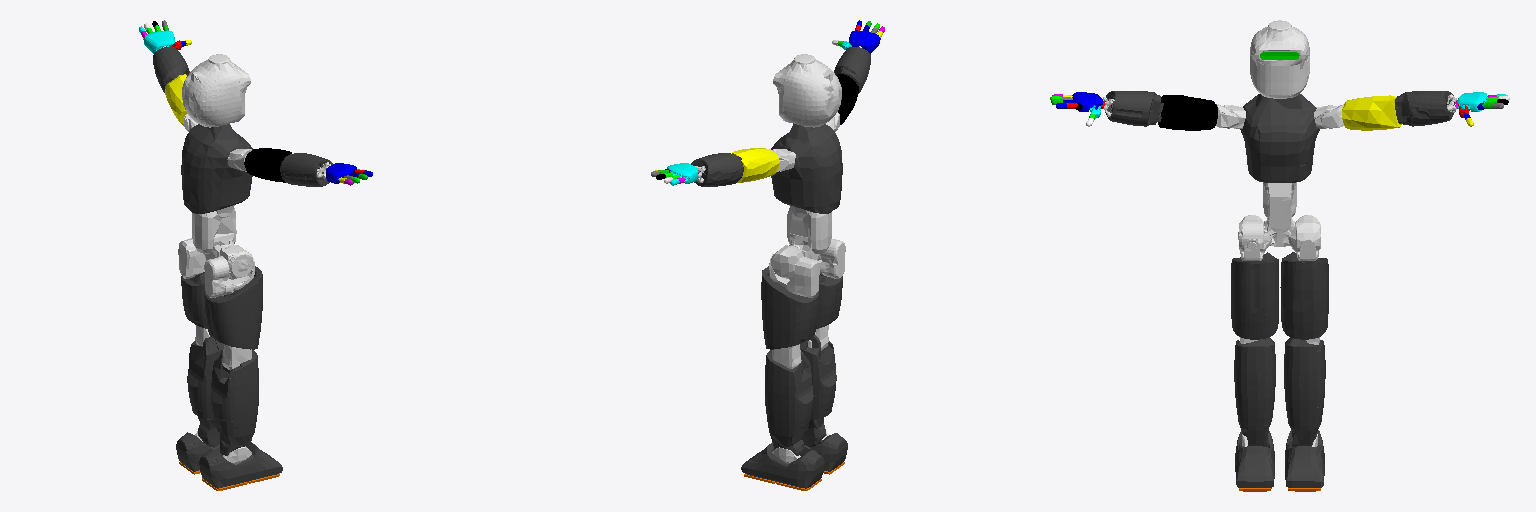
--- Facts derived from the render (not from the file) ---
3 views of the same robot in one strip: view 1: azimuth 30°, elevation 25°; view 2: azimuth 150°, elevation 25°; view 3: azimuth 270°, elevation 25° (orthographic).
Robot: ergoCub — 169 links, 168 joints (57 revolute, 111 fixed); root link root_link; default pose: joints at zero except 2 at the middle of their limits (r_shoulder_roll = 1.53, l_shoulder_roll = 1.53).
Links seen in each view (by area): view 1: chest, r_lower_leg, head, r_hip_3, l_lower_leg, r_ankle_2, r_forearm, torso_1, r_hip_2, r_upperarm, l_hip_3, l_forearm (+4 smaller); view 2: chest, l_lower_leg, head, l_hip_3, r_lower_leg, l_ankle_2, torso_1, l_forearm, l_hip_2, l_upperarm, r_hip_3, r_forearm (+4 smaller); view 3: chest, l_lower_leg, r_lower_leg, r_hip_3, l_hip_3, head, r_upperarm, l_forearm, l_ankle_2, r_ankle_2, l_upperarm, r_forearm (+3 smaller).
Boxes of the visible links, <box> form: chest: <box>181,124,252,213</box>; r_lower_leg: <box>210,350,258,455</box>; head: <box>182,54,250,127</box>; r_hip_3: <box>204,266,262,349</box>; l_lower_leg: <box>187,336,223,447</box>; r_ankle_2: <box>199,442,282,488</box>; r_forearm: <box>280,153,332,186</box>; torso_1: <box>192,208,236,253</box>; r_hip_2: <box>204,254,254,297</box>; r_upperarm: <box>244,148,291,182</box>; l_hip_3: <box>181,272,207,328</box>; l_forearm: <box>153,47,189,92</box>; chest: <box>771,123,842,213</box>; l_lower_leg: <box>765,349,813,455</box>; head: <box>773,54,841,127</box>; l_hip_3: <box>761,266,818,349</box>; r_lower_leg: <box>800,335,836,447</box>; l_ankle_2: <box>741,442,824,488</box>; torso_1: <box>787,208,831,253</box>; l_forearm: <box>691,153,743,186</box>; l_hip_2: <box>769,254,819,297</box>; l_upperarm: <box>732,148,779,182</box>; r_hip_3: <box>816,273,842,328</box>; r_forearm: <box>834,47,870,93</box>; chest: <box>1240,94,1319,182</box>; l_lower_leg: <box>1284,337,1325,446</box>; r_lower_leg: <box>1234,337,1275,446</box>; r_hip_3: <box>1231,252,1278,339</box>; l_hip_3: <box>1280,252,1328,339</box>; head: <box>1250,20,1309,98</box>; r_upperarm: <box>1158,95,1217,130</box>; l_forearm: <box>1395,91,1454,126</box>; l_ankle_2: <box>1285,430,1324,487</box>; r_ankle_2: <box>1235,431,1274,487</box>; l_upperarm: <box>1342,95,1401,130</box>; r_forearm: <box>1105,91,1163,126</box>.
Bounding box of the posed robot: 0.3524 × 1.38 × 1.47 m (x, y, z).
Meshes: 66 distinct files referenced, 66 mesh visuals loaded (45 binary STL, 21 ASCII STL).

robot.urdf — ergoCub:
<?xml version='1.0' encoding='UTF-8'?>
<robot name="ergoCub">
  <link name="root_link">
    <inertial>
      <origin xyz="0.0024749 -0.000105079 0.02344999999999997" rpy="0 0 1.5707963267948966"/>
      <mass value="2.82375"/>
      <inertia ixx="0.00438007" ixy="-1.4369e-06" ixz="1.40984e-05" iyy="0.00563065" iyz="-2.32994e-05" izz="0.00361668"/>
    </inertial>
    <visual>
      <origin xyz="0 0 0.1785" rpy="0 0 1.5707963267948966"/>
      <geometry>
        <mesh filename="package://ergoCub/meshes/simmechanics/sim_ecub_root_link_prt.stl" scale="0.001 0.001 0.001"/>
      </geometry>
      <material name="root_link_color">
        <color rgba="0.9 0.9 0.9 1"/>
      </material>
    </visual>
    <collision>
      <origin xyz="0 0 0.1785" rpy="0 0 1.5707963267948966"/>
      <geometry>
        <mesh filename="package://ergoCub/meshes/simmechanics/sim_ecub_root_link_prt.stl" scale="0.001 0.001 0.001"/>
      </geometry>
    </collision>
  </link>
  <link name="r_hip_1">
    <inertial>
      <origin xyz="-0.0040321 -0.028249399999999994 -0.0006740000000000079" rpy="0 0 1.5707963267948966"/>
      <mass value="2.23209"/>
      <inertia ixx="0.00269555" ixy="6.12663e-05" ixz="6.44179e-06" iyy="0.00221227" iyz="1.50337e-05" izz="0.00246089"/>
    </inertial>
    <visual>
      <origin xyz="-0.021099999999999997 0.0505 0.1785" rpy="0 0 1.5707963267948966"/>
      <geometry>
        <mesh filename="package://ergoCub/meshes/simmechanics/sim_ecub_r_hip_1_prt.stl" scale="0.001 0.001 0.001"/>
      </geometry>
      <material name="r_hip_1_color">
        <color rgba="0.9 0.9 0.9 1"/>
      </material>
    </visual>
    <collision>
      <origin xyz="-0.021099999999999997 0.0505 0.1785" rpy="0 0 1.5707963267948966"/>
      <geometry>
        <mesh filename="package://ergoCub/meshes/simmechanics/sim_ecub_r_hip_1_prt.stl" scale="0.001 0.001 0.001"/>
      </geometry>
    </collision>
  </link>
  <joint name="r_hip_pitch" type="revolute">
    <origin xyz="0.0211 -0.0505 0" rpy="0 0 0"/>
    <axis xyz="0.0 -1.0 0.0"/>
    <parent link="root_link"/>
    <child link="r_hip_1"/>
    <limit effort="50000" lower="-0.7853981633974483" upper="2.007128639793479" velocity="120.0"/>
    <dynamics damping="2.0" friction="0.0"/>
  </joint>
  <link name="r_hip_2">
    <inertial>
      <origin xyz="-0.004133600000000001 -4.650000000000487e-05 -0.03744" rpy="0 0 1.5707963267948966"/>
      <mass value="1.8336"/>
      <inertia ixx="0.00541315" ixy="-2.23165e-06" ixz="-6.93678e-07" iyy="0.0030844" iyz="-0.000989285" izz="0.00339693"/>
    </inertial>
    <visual>
      <origin xyz="0.0262 0.08360000000001593 0.1874999999999929" rpy="0 0 1.5707963267948966"/>
      <geometry>
        <mesh filename="package://ergoCub/meshes/simmechanics/sim_ecub_r_hip_2_prt.stl" scale="0.001 0.001 0.001"/>
      </geometry>
      <material name="r_hip_2_color">
        <color rgba="0.9 0.9 0.9 1"/>
      </material>
    </visual>
    <collision>
      <origin xyz="0.0262 0.08360000000001593 0.1874999999999929" rpy="0 0 1.5707963267948966"/>
      <geometry>
        <mesh filename="package://ergoCub/meshes/simmechanics/sim_ecub_r_hip_2_prt.stl" scale="0.001 0.001 0.001"/>
      </geometry>
    </collision>
  </link>
  <joint name="r_hip_roll" type="revolute">
    <origin xyz="-0.04725 -0.03309999999999999 -0.009000000000000008" rpy="0 0 0"/>
    <axis xyz="-1.0 0.0 0.0"/>
    <parent link="r_hip_1"/>
    <child link="r_hip_2"/>
    <limit effort="50000" lower="-0.17453292519943295" upper="1.9547687622336491" velocity="120.0"/>
    <dynamics damping="2.0" friction="0.0"/>
  </joint>
  <link name="r_hip_3">
    <inertial>
      <origin xyz="0.005150999999999999 0.012832099999999999 -0.051687999999999956" rpy="0 0 1.5707963267948966"/>
      <mass value="2.1479"/>
      <inertia ixx="0.00814902" ixy="-3.4988e-05" ixz="-0.000125736" iyy="0.00719326" iyz="-2.4103e-05" izz="0.00572783"/>
    </inertial>
    <visual>
      <origin xyz="-0.0105 0.08360000000001593 0.2771999999999929" rpy="0 0 1.5707963267948966"/>
      <geometry>
        <mesh filename="package://ergoCub/meshes/simmechanics/sim_ecub_r_hip_3_prt.stl" scale="0.001 0.001 0.001"/>
      </geometry>
      <material name="r_hip_3_color">
        <color rgba="0.3 0.3 0.3 1"/>
      </material>
    </visual>
    <collision>
      <origin xyz="-0.0105 0.08360000000001593 0.2771999999999929" rpy="0 0 1.5707963267948966"/>
      <geometry>
        <mesh filename="package://ergoCub/meshes/simmechanics/sim_ecub_r_hip_3_prt.stl" scale="0.001 0.001 0.001"/>
      </geometry>
    </collision>
  </link>
  <joint name="r_leg_ft_sensor" type="fixed">
    <origin xyz="0.036699999999999997 0 -0.0897" rpy="0 0 0"/>
    <parent link="r_hip_2"/>
    <child link="r_hip_3"/>
    <dynamics damping="0.1"/>
  </joint>
  <link name="r_upper_leg">
    <inertial>
      <origin xyz="0.008517482820396669 -0.014468510113492955 -0.12674999999999997" rpy="0 0 1.5707963267956018"/>
      <mass value="2.78492"/>
      <inertia ixx="0.0121093" ixy="-5.45559e-05" ixz="-0.000403319" iyy="0.0118603" iyz="-0.000539364" izz="0.00226097"/>
    </inertial>
    <visual>
      <origin xyz="-0.01050000004578778 0.068600000000031 0.3498999999999929" rpy="0 0 1.5707963267956018"/>
      <geometry>
        <mesh filename="package://ergoCub/meshes/simmechanics/sim_ecub_r_upper_leg_prt.stl" scale="0.001 0.001 0.001"/>
      </geometry>
      <material name="r_upper_leg_color">
        <color rgba="0.9 0.9 0.9 1"/>
      </material>
    </visual>
    <collision>
      <origin xyz="-0.01050000004578778 0.068600000000031 0.3498999999999929" rpy="0 0 1.5707963267956018"/>
      <geometry>
        <mesh filename="package://ergoCub/meshes/simmechanics/sim_ecub_r_upper_leg_prt.stl" scale="0.001 0.001 0.001"/>
      </geometry>
    </collision>
  </link>
  <joint name="r_hip_yaw" type="revolute">
    <origin xyz="0 0.015 -0.07269999999999999" rpy="0 0 1.187379294776138e-06"/>
    <axis xyz="0.0 0.0 -1.0"/>
    <parent link="r_hip_3"/>
    <child link="r_upper_leg"/>
    <limit effort="50000" lower="-1.3962634015954636" upper="1.3962634015954636" velocity="120.0"/>
    <dynamics damping="2.0" friction="0.0"/>
  </joint>
  <link name="r_lower_leg">
    <inertial>
      <origin xyz="0.0011584999999999998 0.006200199999999989 0.21425899999999998" rpy="3.141592653589793 0 -1.5707963267948966"/>
      <mass value="3.74161"/>
      <inertia ixx="0.0472543" ixy="-3.40915e-05" ixz="-0.0018183" iyy="0.0460139" iyz="0.000851474" izz="0.00478515"/>
    </inertial>
    <visual>
      <origin xyz="-0.021099999999999997 -0.060700000000000004 -0.5296000000000003" rpy="3.141592653589793 0 -1.5707963267948966"/>
      <geometry>
        <mesh filename="package://ergoCub/meshes/simmechanics/sim_ecub_r_lower_leg_prt.stl" scale="0.001 0.001 0.001"/>
      </geometry>
      <material name="r_lower_leg_color">
        <color rgba="0.3 0.3 0.3 1"/>
      </material>
    </visual>
    <collision>
      <origin xyz="-0.021099999999999997 -0.060700000000000004 -0.5296000000000003" rpy="3.141592653589793 0 -1.5707963267948966"/>
      <geometry>
        <mesh filename="package://ergoCub/meshes/simmechanics/sim_ecub_r_lower_leg_prt.stl" scale="0.001 0.001 0.001"/>
      </geometry>
    </collision>
  </link>
  <joint name="r_knee" type="revolute">
    <origin xyz="0.010600009380288952 0.007899987413773887 -0.17970000000000008" rpy="3.141592653589793 0 -1.187379294776138e-06"/>
    <axis xyz="0.0 1.0 0.0"/>
    <parent link="r_upper_leg"/>
    <child link="r_lower_leg"/>
    <limit effort="50000" lower="-1.2217304763960306" upper="0.08726646259971647" velocity="120.0"/>
    <dynamics damping="2.0" friction="0.0"/>
  </joint>
  <link name="r_ankle_1">
    <inertial>
      <origin xyz="-0.0013671999999999955 -0.0006601999999999997 -0.01408699999999996" rpy="0 0 1.5707963267948966"/>
      <mass value="0.348128"/>
      <inertia ixx="0.01" ixy="-8.99183e-06" ixz="5.52411e-05" iyy="0.01" iyz="1.03371e-05" izz="0.01"/>
    </inertial>
    <visual>
      <origin xyz="-0.021099999999999997 0.0926 0.8505999999999999" rpy="0 0 1.5707963267948966"/>
      <geometry>
        <mesh filename="package://ergoCub/meshes/simmechanics/sim_ecub_r_ankle_1_prt.stl" scale="0.001 0.001 0.001"/>
      </geometry>
      <material name="r_ankle_1_color">
        <color rgba="0.9 0.9 0.9 1"/>
      </material>
    </visual>
    <collision>
      <origin xyz="-0.021099999999999997 0.0926 0.8505999999999999" rpy="0 0 1.5707963267948966"/>
      <geometry>
        <mesh filename="package://ergoCub/meshes/simmechanics/sim_ecub_r_ankle_1_prt.stl" scale="0.001 0.001 0.001"/>
      </geometry>
    </collision>
  </link>
  <joint name="r_ankle_pitch" type="revolute">
    <origin xyz="0 0.0319 0.32099999999999995" rpy="3.141592653589793 0 0"/>
    <axis xyz="0.0 1.0 0.0"/>
    <parent link="r_lower_leg"/>
    <child link="r_ankle_1"/>
    <limit effort="50000" lower="-0.7853981633974483" upper="0.7853981633974483" velocity="120.0"/>
    <dynamics damping="2.0" friction="0.0"/>
  </joint>
  <link name="r_ankle_2">
    <inertial>
      <origin xyz="0.04052647 -8.640000000000037e-05 -0.023870999999999976" rpy="0 0 1.5707963267948966"/>
      <mass value="1.54182"/>
      <inertia ixx="0.01" ixy="-2.30708e-05" ixz="-3.07725e-05" iyy="0.01" iyz="-0.00132237" izz="0.01"/>
    </inertial>
    <visual>
      <origin xyz="0.031650000000000005 0.07440000000000001 0.8856000000000002" rpy="0 0 1.5707963267948966"/>
      <geometry>
        <mesh filename="package://ergoCub/meshes/simmechanics/sim_ecub_r_ankle_2_prt.stl" scale="0.001 0.001 0.001"/>
      </geometry>
      <material name="r_ankle_2_color">
        <color rgba="0.3 0.3 0.3 1"/>
      </material>
    </visual>
    <collision>
      <origin xyz="0.031650000000000005 0.07440000000000001 0.8856000000000002" rpy="0 0 1.5707963267948966"/>
      <geometry>
        <mesh filename="package://ergoCub/meshes/simmechanics/sim_ecub_r_ankle_2_prt.stl" scale="0.001 0.001 0.001"/>
      </geometry>
    </collision>
  </link>
  <joint name="r_ankle_roll" type="revolute">
    <origin xyz="-0.052750000000000005 0.018199999999999994 -0.03500000000000003" rpy="0 0 0"/>
    <axis xyz="-1.0 0.0 0.0"/>
    <parent link="r_ankle_1"/>
    <child link="r_ankle_2"/>
    <limit effort="50000" lower="-0.4363323129985824" upper="0.4363323129985824" velocity="120.0"/>
    <dynamics damping="2.0" friction="0.0"/>
  </joint>
  <link name="r_foot_rear">
    <inertial>
      <origin xyz="0.0005878999999999988 0 0.00229899999999994" rpy="0 0 1.5707963267948966"/>
      <mass value="0.221105"/>
      <inertia ixx="0.01" ixy="0.0" ixz="-4.27001e-09" iyy="0.01" iyz="3.29086e-09" izz="0.01"/>
    </inertial>
    <visual>
      <origin xyz="0.015599999999999463 0.07440000000000031 0.9558" rpy="0 0 1.5707963267948966"/>
      <geometry>
        <mesh filename="package://ergoCub/meshes/simmechanics/sim_ecub_r_foot_rear_prt.stl" scale="0.001 0.001 0.001"/>
      </geometry>
      <material name="r_foot_rear_color">
        <color rgba="1 0.51 0.0 1"/>
      </material>
    </visual>
    <collision>
      <origin xyz="0.0 0.0 0.003" rpy="0.0 0.0 0.0"/>
      <geometry>
        <box size="0.117 0.1 0.006"/>
      </geometry>
    </collision>
  </link>
  <joint name="r_foot_rear_ft_sensor" type="fixed">
    <origin xyz="0.016000000000000004 0 -0.07019999999999993" rpy="0 0 0"/>
    <parent link="r_ankle_2"/>
    <child link="r_foot_rear"/>
    <dynamics damping="0.1"/>
  </joint>
  <link name="r_sole"/>
  <joint name="r_sole_fixed_joint" type="fixed">
    <origin xyz="0.05963 0 0" rpy="0 0 0"/>
    <parent link="r_foot_rear"/>
    <child link="r_sole"/>
    <dynamics damping="0.1"/>
  </joint>
  <link name="r_foot_front">
    <inertial>
      <origin xyz="0.0005879999999999913 0 0.00229899999999994" rpy="0 0 1.5707963267948966"/>
      <mass value="0.221105"/>
      <inertia ixx="0.01" ixy="0.0" ixz="-4.27001e-09" iyy="0.01" iyz="3.99664e-09" izz="0.01"/>
    </inertial>
    <visual>
      <origin xyz="-0.10360000000000001 0.07440000000000001 0.9558000000000001" rpy="0 0 1.5707963267948966"/>
      <geometry>
        <mesh filename="package://ergoCub/meshes/simmechanics/sim_ecub_r_foot_front_prt.stl" scale="0.001 0.001 0.001"/>
      </geometry>
      <material name="r_foot_front_color">
        <color rgba="1 0.51 0.0 1"/>
      </material>
    </visual>
    <collision>
      <origin xyz="0.0 0.0 0.003" rpy="0.0 0.0 0.0"/>
      <geometry>
        <box size="0.117 0.1 0.006"/>
      </geometry>
    </collision>
  </link>
  <joint name="r_foot_front_ft_sensor" type="fixed">
    <origin xyz="0.13525 0 -0.07019999999999993" rpy="0 0 0"/>
    <parent link="r_ankle_2"/>
    <child link="r_foot_front"/>
    <dynamics damping="0.1"/>
  </joint>
  <link name="l_hip_1">
    <inertial>
      <origin xyz="-0.004015400000000002 0.02824729999999999 -0.0006810000000000149" rpy="0 0 1.5707963267948966"/>
      <mass value="2.23177"/>
      <inertia ixx="0.00269534" ixy="-5.97131e-05" ixz="-5.83472e-06" iyy="0.00221093" iyz="1.54328e-05" izz="0.00246104"/>
    </inertial>
    <visual>
      <origin xyz="-0.021099999999999997 -0.0505 0.1785" rpy="0 0 1.5707963267948966"/>
      <geometry>
        <mesh filename="package://ergoCub/meshes/simmechanics/sim_ecub_l_hip_1_prt.stl" scale="0.001 0.001 0.001"/>
      </geometry>
      <material name="l_hip_1_color">
        <color rgba="0.9 0.9 0.9 1"/>
      </material>
    </visual>
    <collision>
      <origin xyz="-0.021099999999999997 -0.0505 0.1785" rpy="0 0 1.5707963267948966"/>
      <geometry>
        <mesh filename="package://ergoCub/meshes/simmechanics/sim_ecub_l_hip_1_prt.stl" scale="0.001 0.001 0.001"/>
      </geometry>
    </collision>
  </link>
  <joint name="l_hip_pitch" type="revolute">
    <origin xyz="0.0211 0.0505 0" rpy="0 0 0"/>
    <axis xyz="0.0 -1.0 0.0"/>
    <parent link="root_link"/>
    <child link="l_hip_1"/>
    <limit effort="50000" lower="-0.7853981633974483" upper="2.007128639793479" velocity="120.0"/>
    <dynamics damping="2.0" friction="0.0"/>
  </joint>
  <link name="l_hip_2">
    <inertial>
      <origin xyz="-0.004125700000000003 3.9200000000017e-05 -0.03750999999999999" rpy="0 0 1.5707963267948966"/>
      <mass value="1.83384"/>
      <inertia ixx="0.00548825" ixy="1.65424e-06" ixz="-2.17613e-06" iyy="0.00315954" iyz="-0.000997734" izz="0.0033985"/>
    </inertial>
    <visual>
      <origin xyz="0.026149999999999982 -0.08359999999999998 0.18750000000000003" rpy="0 0 1.5707963267948966"/>
      <geometry>
        <mesh filename="package://ergoCub/meshes/simmechanics/sim_ecub_l_hip_2_prt.stl" scale="0.001 0.001 0.001"/>
      </geometry>
      <material name="l_hip_2_color">
        <color rgba="0.9 0.9 0.9 1"/>
      </material>
    </visual>
    <collision>
      <origin xyz="0.026149999999999982 -0.08359999999999998 0.18750000000000003" rpy="0 0 1.5707963267948966"/>
      <geometry>
        <mesh filename="package://ergoCub/meshes/simmechanics/sim_ecub_l_hip_2_prt.stl" scale="0.001 0.001 0.001"/>
      </geometry>
    </collision>
  </link>
  <joint name="l_hip_roll" type="revolute">
    <origin xyz="-0.04725 0.03309999999999999 -0.009000000000000008" rpy="0 0 0"/>
    <axis xyz="1.0 0.0 0.0"/>
    <parent link="l_hip_1"/>
    <child link="l_hip_2"/>
    <limit effort="50000" lower="-0.17453292519943295" upper="1.9547687622336491" velocity="120.0"/>
    <dynamics damping="2.0" friction="0.0"/>
  </joint>
  <link name="l_hip_3">
    <inertial>
      <origin xyz="0.0051760999999999995 -0.012828800000000001 -0.05174799999999996" rpy="0 0 1.5707963267948966"/>
      <mass value="2.14752"/>
      <inertia ixx="0.00819802" ixy="3.32133e-05" ixz="0.000124756" iyy="0.00724222" iyz="-2.50618e-05" izz="0.00572746"/>
    </inertial>
    <visual>
      <origin xyz="-0.010549999999999967 -0.08360000000000002 0.27720000000000006" rpy="0 0 1.5707963267948966"/>
      <geometry>
        <mesh filename="package://ergoCub/meshes/simmechanics/sim_ecub_l_hip_3_prt.stl" scale="0.001 0.001 0.001"/>
      </geometry>
      <material name="l_hip_3_color">
        <color rgba="0.3 0.3 0.3 1"/>
      </material>
    </visual>
    <collision>
      <origin xyz="-0.010549999999999967 -0.08360000000000002 0.27720000000000006" rpy="0 0 1.5707963267948966"/>
      <geometry>
        <mesh filename="package://ergoCub/meshes/simmechanics/sim_ecub_l_hip_3_prt.stl" scale="0.001 0.001 0.001"/>
      </geometry>
    </collision>
  </link>
  <joint name="l_leg_ft_sensor" type="fixed">
    <origin xyz="0.036699999999999997 0 -0.0897" rpy="0 0 0"/>
    <parent link="l_hip_2"/>
    <child link="l_hip_3"/>
    <dynamics damping="0.1"/>
  </joint>
  <link name="l_upper_leg">
    <inertial>
      <origin xyz="0.0085035 0.014484900000000009 -0.126747" rpy="0 0 1.5707963267948966"/>
      <mass value="2.78492"/>
      <inertia ixx="0.0121099" ixy="4.90739e-05" ixz="0.000392143" iyy="0.0118524" iyz="-0.000539399" izz="0.00225363"/>
    </inertial>
    <visual>
      <origin xyz="-0.01055000000000001 -0.06860000000000005 0.3499" rpy="0 0 1.5707963267948966"/>
      <geometry>
        <mesh filename="package://ergoCub/meshes/simmechanics/sim_ecub_l_upper_leg_prt.stl" scale="0.001 0.001 0.001"/>
      </geometry>
      <material name="l_upper_leg_color">
        <color rgba="0.9 0.9 0.9 1"/>
      </material>
    </visual>
    <collision>
      <origin xyz="-0.01055000000000001 -0.06860000000000005 0.3499" rpy="0 0 1.5707963267948966"/>
      <geometry>
        <mesh filename="package://ergoCub/meshes/simmechanics/sim_ecub_l_upper_leg_prt.stl" scale="0.001 0.001 0.001"/>
      </geometry>
    </collision>
  </link>
  <joint name="l_hip_yaw" type="revolute">
    <origin xyz="0 -0.015 -0.07269999999999999" rpy="0 0 0"/>
    <axis xyz="0.0 0.0 1.0"/>
    <parent link="l_hip_3"/>
    <child link="l_upper_leg"/>
    <limit effort="50000" lower="-1.3962634015954636" upper="1.3962634015954636" velocity="120.0"/>
    <dynamics damping="2.0" friction="0.0"/>
  </joint>
  <link name="l_lower_leg">
    <inertial>
      <origin xyz="0.0013845000000000038 -0.006187100000000001 0.21426" rpy="3.141592653589793 0 -1.5707963267948966"/>
      <mass value="3.74161"/>
      <inertia ixx="0.0472513" ixy="1.91266e-05" ixz="0.00182251" iyy="0.0460128" iyz="0.000805127" izz="0.0047826"/>
    </inertial>
    <visual>
      <origin xyz="-0.021150000000000016 0.06070000000000036 -0.5296000000000004" rpy="3.141592653589793 0 -1.5707963267948966"/>
      <geometry>
        <mesh filename="package://ergoCub/meshes/simmechanics/sim_ecub_l_lower_leg_prt.stl" scale="0.001 0.001 0.001"/>
      </geometry>
      <material name="l_lower_leg_color">
        <color rgba="0.3 0.3 0.3 1"/>
      </material>
    </visual>
    <collision>
      <origin xyz="-0.021150000000000016 0.06070000000000036 -0.5296000000000004" rpy="3.141592653589793 0 -1.5707963267948966"/>
      <geometry>
        <mesh filename="package://ergoCub/meshes/simmechanics/sim_ecub_l_lower_leg_prt.stl" scale="0.001 0.001 0.001"/>
      </geometry>
    </collision>
  </link>
  <joint name="l_knee" type="revolute">
    <origin xyz="0.010599999999999998 -0.00789999999999999 -0.17970000000000008" rpy="3.141592653589793 0 0"/>
    <axis xyz="0.0 1.0 0.0"/>
    <parent link="l_upper_leg"/>
    <child link="l_lower_leg"/>
    <limit effort="50000" lower="-1.2217304763960306" upper="0.08726646259971647" velocity="120.0"/>
    <dynamics damping="2.0" friction="0.0"/>
  </joint>
  <link name="l_ankle_1">
    <inertial>
      <origin xyz="-0.0013851999999999962 0.0006601999999999997 -0.01408699999999996" rpy="0 0 1.5707963267948966"/>
      <mass value="0.348128"/>
      <inertia ixx="0.01" ixy="8.88196e-06" ixz="-5.52411e-05" iyy="0.01" iyz="7.86883e-06" izz="0.01"/>
    </inertial>
    <visual>
      <origin xyz="-0.021150000000000165 -0.09260000000000018 0.8506000000000005" rpy="0 0 1.5707963267948966"/>
      <geometry>
        <mesh filename="package://ergoCub/meshes/simmechanics/sim_ecub_l_ankle_1_prt.stl" scale="0.001 0.001 0.001"/>
      </geometry>
      <material name="l_ankle_1_color">
        <color rgba="0.9 0.9 0.9 1"/>
      </material>
    </visual>
    <collision>
      <origin xyz="-0.021150000000000165 -0.09260000000000018 0.8506000000000005" rpy="0 0 1.5707963267948966"/>
      <geometry>
        <mesh filename="package://ergoCub/meshes/simmechanics/sim_ecub_l_ankle_1_prt.stl" scale="0.001 0.001 0.001"/>
      </geometry>
    </collision>
  </link>
  <joint name="l_ankle_pitch" type="revolute">
    <origin xyz="0 -0.0319 0.32099999999999995" rpy="3.141592653589793 0 0"/>
    <axis xyz="0.0 1.0 0.0"/>
    <parent link="l_lower_leg"/>
    <child link="l_ankle_1"/>
    <limit effort="50000" lower="-0.7853981633974483" upper="0.7853981633974483" velocity="120.0"/>
    <dynamics damping="2.0" friction="0.0"/>
  </joint>
  <link name="l_ankle_2">
    <inertial>
      <origin xyz="0.0405224 -9.790000000001187e-05 -0.023870999999999976" rpy="0 0 1.5707963267948966"/>
      <mass value="1.54182"/>
      <inertia ixx="0.01" ixy="-1.99736e-05" ixz="-1.50522e-05" iyy="0.01" iyz="-0.00132513" izz="0.01"/>
    </inertial>
    <visual>
      <origin xyz="0.031599999999999906 -0.07440000000000055 0.8856000000000006" rpy="0 0 1.5707963267948966"/>
      <geometry>
        <mesh filename="package://ergoCub/meshes/simmechanics/sim_ecub_l_ankle_2_prt.stl" scale="0.001 0.001 0.001"/>
      </geometry>
      <material name="l_ankle_2_color">
        <color rgba="0.3 0.3 0.3 1"/>
      </material>
    </visual>
    <collision>
      <origin xyz="0.031599999999999906 -0.07440000000000055 0.8856000000000006" rpy="0 0 1.5707963267948966"/>
      <geometry>
        <mesh filename="package://ergoCub/meshes/simmechanics/sim_ecub_l_ankle_2_prt.stl" scale="0.001 0.001 0.001"/>
      </geometry>
    </collision>
  </link>
  <joint name="l_ankle_roll" type="revolute">
    <origin xyz="-0.052750000000000005 -0.018199999999999994 -0.03500000000000003" rpy="0 0 0"/>
    <axis xyz="1.0 0.0 0.0"/>
    <parent link="l_ankle_1"/>
    <child link="l_ankle_2"/>
    <limit effort="50000" lower="-0.4363323129985824" upper="0.4363323129985824" velocity="120.0"/>
    <dynamics damping="2.0" friction="0.0"/>
  </joint>
  <link name="l_foot_front">
    <inertial>
      <origin xyz="0.0005879999999999913 0 0.00229899999999994" rpy="0 0 1.5707963267948966"/>
      <mass value="0.221105"/>
      <inertia ixx="0.01" ixy="0.0" ixz="-5.72999e-09" iyy="0.01" iyz="5.16985e-09" izz="0.01"/>
    </inertial>
    <visual>
      <origin xyz="-0.10365000000000019 -0.07440000000000048 0.955800000000001" rpy="0 0 1.5707963267948966"/>
      <geometry>
        <mesh filename="package://ergoCub/meshes/simmechanics/sim_ecub_l_foot_front_prt.stl" scale="0.001 0.001 0.001"/>
      </geometry>
      <material name="l_foot_front_color">
        <color rgba="1 0.51 0.0 1"/>
      </material>
    </visual>
    <collision>
      <origin xyz="0.0 0.0 0.003" rpy="0.0 0.0 0.0"/>
      <geometry>
        <box size="0.117 0.1 0.006"/>
      </geometry>
    </collision>
  </link>
  <joint name="l_foot_front_ft_sensor" type="fixed">
    <origin xyz="0.13525 0 -0.07019999999999993" rpy="0 0 0"/>
    <parent link="l_ankle_2"/>
    <child link="l_foot_front"/>
    <dynamics damping="0.1"/>
  </joint>
  <link name="l_foot_rear">
    <inertial>
      <origin xyz="0.0005878999999999988 0 0.00229899999999994" rpy="0 0 1.5707963267948966"/>
      <mass value="0.221105"/>
      <inertia ixx="0.01" ixy="0.0" ixz="-5.72999e-09" iyy="0.01" iyz="3.29086e-09" izz="0.01"/>
    </inertial>
    <visual>
      <origin xyz="0.015599999999999909 -0.07440000000000056 0.9558000000000011" rpy="0 0 1.5707963267948966"/>
      <geometry>
        <mesh filename="package://ergoCub/meshes/simmechanics/sim_ecub_l_foot_rear_prt.stl" scale="0.001 0.001 0.001"/>
      </geometry>
      <material name="l_foot_rear_color">
        <color rgba="1 0.51 0.0 1"/>
      </material>
    </visual>
    <collision>
      <origin xyz="0.0 0.0 0.003" rpy="0.0 0.0 0.0"/>
      <geometry>
        <box size="0.117 0.1 0.006"/>
      </geometry>
    </collision>
  </link>
  <joint name="l_foot_rear_ft_sensor" type="fixed">
    <origin xyz="0.016000000000000004 0 -0.07019999999999993" rpy="0 0 0"/>
    <parent link="l_ankle_2"/>
    <child link="l_foot_rear"/>
    <dynamics damping="0.1"/>
  </joint>
  <link name="l_sole"/>
  <joint name="l_sole_fixed_joint" type="fixed">
    <origin xyz="0.05963 0 0" rpy="0 0 0"/>
    <parent link="l_foot_rear"/>
    <child link="l_sole"/>
    <dynamics damping="0.1"/>
  </joint>
  <link name="torso_1">
    <inertial>
      <origin xyz="-0.00963997 0.0006168500000000001 0.08244230000000001" rpy="0 0 1.5707963267948966"/>
      <mass value="2.01685"/>
      <inertia ixx="0.00709474" ixy="6.97521e-06" ixz="-1.25869e-05" iyy="0.00581692" iyz="0.000722773" izz="0.00295365"/>
    </inertial>
    <visual>
      <origin xyz="0 0 0.11800000000000006" rpy="0 0 1.5707963267948966"/>
      <geometry>
        <mesh filename="package://ergoCub/meshes/simmechanics/sim_ecub_torso_1_prt.stl" scale="0.001 0.001 0.001"/>
      </geometry>
      <material name="torso_1_color">
        <color rgba="0.9 0.9 0.9 1"/>
      </material>
    </visual>
    <collision>
      <origin xyz="0 0 0.11800000000000006" rpy="0 0 1.5707963267948966"/>
      <geometry>
        <mesh filename="package://ergoCub/meshes/simmechanics/sim_ecub_torso_1_prt.stl" scale="0.001 0.001 0.001"/>
      </geometry>
    </collision>
  </link>
  <joint name="torso_roll" type="revolute">
    <origin xyz="0 0 0.060499999999999984" rpy="0 0 0"/>
    <axis xyz="-1.0 0.0 0.0"/>
    <parent link="root_link"/>
    <child link="torso_1"/>
    <limit effort="50000" lower="-0.4014257279586958" upper="0.4014257279586958" velocity="120.0"/>
    <dynamics damping="2.0" friction="0.0"/>
  </joint>
  <link name="torso_2">
    <inertial>
      <origin xyz="0.0015724700000000012 0.003622350000000127 0.026019499999999952" rpy="0 0 1.5707963267948966"/>
      <mass value="0.705163"/>
      <inertia ixx="0.000667553" ixy="-4.19862e-06" ixz="7.0143e-05" iyy="0.00125903" iyz="5.39818e-06" izz="0.00114582"/>
    </inertial>
    <visual>
      <origin xyz="0 0 0" rpy="0 0 1.5707963267948966"/>
      <geometry>
        <mesh filename="package://ergoCub/meshes/simmechanics/sim_ecub_torso_2_prt.stl" scale="0.001 0.001 0.001"/>
      </geometry>
      <material name="torso_2_color">
        <color rgba="0.9 0.9 0.9 1"/>
      </material>
    </visual>
    <collision>
      <origin xyz="0 0 0" rpy="0 0 1.5707963267948966"/>
      <geometry>
        <mesh filename="package://ergoCub/meshes/simmechanics/sim_ecub_torso_2_prt.stl" scale="0.001 0.001 0.001"/>
      </geometry>
    </collision>
  </link>
  <joint name="torso_pitch" type="revolute">
    <origin xyz="0 0 0.11800000000000005" rpy="0 0 0"/>
    <axis xyz="0.0 1.0 0.0"/>
    <parent link="torso_1"/>
    <child link="torso_2"/>
    <limit effort="50000" lower="-0.3141592653589793" upper="0.7853981633974483" velocity="120.0"/>
    <dynamics damping="2.0" friction="0.0"/>
  </joint>
  <link name="chest">
    <inertial>
      <origin xyz="-0.010721000000063492 -0.00034820599804510997 0.07611099999999998" rpy="0 0 1.5707963267948966"/>
      <mass value="8.06547"/>
      <inertia ixx="0.0449389" ixy="-0.000176119" ixz="-0.00012962" iyy="0.0484549" iyz="0.000312401" izz="0.0306877"/>
    </inertial>
    <visual>
      <origin xyz="0 0 -0.06446999999999996" rpy="0 0 1.5707963267948966"/>
      <geometry>
        <mesh filename="package://ergoCub/meshes/simmechanics/sim_ecub_chest_prt.stl" scale="0.001 0.001 0.001"/>
      </geometry>
      <material name="chest_color">
        <color rgba="0.3 0.3 0.3 1"/>
      </material>
    </visual>
    <collision>
      <origin xyz="0 0 -0.06446999999999996" rpy="0 0 1.5707963267948966"/>
      <geometry>
        <mesh filename="package://ergoCub/meshes/simmechanics/sim_ecub_chest_prt.stl" scale="0.001 0.001 0.001"/>
      </geometry>
    </collision>
  </link>
  <joint name="torso_yaw" type="revolute">
    <origin xyz="0 0 0.06446999999999996" rpy="0 0 0"/>
    <axis xyz="0.0 0.0 -1.0"/>
    <parent link="torso_2"/>
    <child link="chest"/>
    <limit effort="50000" lower="-0.7504915783575618" upper="0.7504915783575618" velocity="120.0"/>
    <dynamics damping="2.0" friction="0.0"/>
  </joint>
  <link name="neck_2">
    <inertial>
      <origin xyz="-0.006305769999994505 3.01413002619598e-05 0.0063730000000000175" rpy="0 0 1.570796326794898"/>
      <mass value="0.121003"/>
      <inertia ixx="3.84895e-05" ixy="9.37575e-08" ixz="4.86994e-08" iyy="4.53912e-05" iyz="-8.62267e-06" izz="3.75355e-05"/>
    </inertial>
    <visual>
      <origin xyz="-0.004861510000001958 -5.0000000001387415e-05 -0.2897700000000001" rpy="0 0 1.570796326794898"/>
      <geometry>
        <mesh filename="package://ergoCub/meshes/simmechanics/sim_ecub_head_neck_2_prt.stl" scale="0.001 0.001 0.001"/>
      </geometry>
      <material name="neck_2_color">
        <color rgba="0.9 0.9 0.9 1"/>
      </material>
    </visual>
    <collision>
      <origin xyz="-0.004861510000001958 -5.0000000001387415e-05 -0.2897700000000001" rpy="0 0 1.570796326794898"/>
      <geometry>
        <mesh filename="package://ergoCub/meshes/simmechanics/sim_ecub_head_neck_2_prt.stl" scale="0.001 0.001 0.001"/>
      </geometry>
    </collision>
  </link>
  <joint name="neck_pitch" type="revolute">
    <origin xyz="0.00486151 0 0.22529999999999997" rpy="0 0 0"/>
    <axis xyz="4.1292621846134423e-16 -1.0 0.0"/>
    <parent link="chest"/>
    <child link="neck_2"/>
    <limit effort="50000" lower="-0.5235987755982988" upper="0.3839724354387525" velocity="120.0"/>
    <dynamics damping="2.0" friction="0.0"/>
  </joint>
  <link name="neck_3">
    <inertial>
      <origin xyz="0.0007590499999925388 -4.09169010262998e-05 0.03603500000000004" rpy="0 0 1.5707963267948974"/>
      <mass value="0.178114"/>
      <inertia ixx="0.000107598" ixy="-1.76295e-07" ixz="-2.50398e-07" iyy="9.70547e-05" iyz="-6.13074e-06" izz="3.62642e-05"/>
    </inertial>
    <visual>
      <origin xyz="-0.0048615100000017055 0 -0.2992700000000001" rpy="0 0 1.5707963267948974"/>
      <geometry>
        <mesh filename="package://ergoCub/meshes/simmechanics/sim_ecub_head_neck_3_prt.stl" scale="0.001 0.001 0.001"/>
      </geometry>
      <material name="neck_3_color">
        <color rgba="0.9 0.9 0.9 1"/>
      </material>
    </visual>
    <collision>
      <origin xyz="-0.0048615100000017055 0 -0.2992700000000001" rpy="0 0 1.5707963267948974"/>
      <geometry>
        <mesh filename="package://ergoCub/meshes/simmechanics/sim_ecub_head_neck_3_prt.stl" scale="0.001 0.001 0.001"/>
      </geometry>
    </collision>
  </link>
  <joint name="neck_roll" type="revolute">
    <origin xyz="0 0 0.009500000000000008" rpy="0 0 0"/>
    <axis xyz="1.0 -1.141386016013875e-15 0.0"/>
    <parent link="neck_2"/>
    <child link="neck_3"/>
    <limit effort="50000" lower="-0.3490658503988659" upper="0.3490658503988659" velocity="120.0"/>
    <dynamics damping="2.0" friction="0.0"/>
  </joint>
  <link name="head">
    <inertial>
      <origin xyz="-0.02038851 0.004002100000000001 0.034331999999999974" rpy="0 0 1.5707963267948966"/>
      <mass value="2.31933"/>
      <inertia ixx="0.0122181" ixy="-0.000306508" ixz="0.000152454" iyy="0.0105129" iyz="0.000206793" izz="0.0102492"/>
    </inertial>
    <visual>
      <origin xyz="-0.00486150999999975 0 -0.36842000000000047" rpy="0 0 1.5707963267948966"/>
      <geometry>
        <mesh filename="package://ergoCub/meshes/simmechanics/sim_ecub_head_prt.stl" scale="0.001 0.001 0.001"/>
      </geometry>
      <material name="head_color">
        <color rgba="0.9 0.9 0.9 1"/>
      </material>
    </visual>
    <collision>
      <origin xyz="-0.00486150999999975 0 -0.36842000000000047" rpy="0 0 1.5707963267948966"/>
      <geometry>
        <mesh filename="package://ergoCub/meshes/simmechanics/sim_ecub_head_prt.stl" scale="0.001 0.001 0.001"/>
      </geometry>
    </collision>
  </link>
  <joint name="neck_yaw" type="revolute">
    <origin xyz="0 0 0.06915000000000004" rpy="0 0 0"/>
    <axis xyz="0.0 0.0 1.0"/>
    <parent link="neck_3"/>
    <child link="head"/>
    <limit effort="50000" lower="-0.7853981633974483" upper="0.7853981633974483" velocity="120.0"/>
    <dynamics damping="2.0" friction="0.0"/>
  </joint>
  <link name="head_laser_frame"/>
  <joint name="head_laser_frame_fixed_joint" type="fixed">
    <origin xyz="4.99999999999997e-05 0 0.13480199999999992" rpy="0 0 1.5707963267948966"/>
    <parent link="head"/>
    <child link="head_laser_frame"/>
    <dynamics damping="0.1"/>
  </joint>
  <link name="head_imu_0"/>
  <joint name="head_imu_0_fixed_joint" type="fixed">
    <origin xyz="-0.004299998 -0.0055 0.03823499999999996" rpy="3.141592653589793 0 1.5707963267948966"/>
    <parent link="head"/>
    <child link="head_imu_0"/>
    <dynamics damping="0.1"/>
  </joint>
  <link name="realsense">
    <inertial>
      <origin xyz="-0.015665513063136835 0.004519999999999997 0.0027449336073371855" rpy="-0.00025958199854238625 0 1.5707963267948972"/>
      <mass value="0.0973042"/>
      <inertia ixx="0.01" ixy="-4.78755e-05" ixz="-7.18355e-06" iyy="0.01" iyz="-2.55241e-05" izz="0.01"/>
    </inertial>
    <visual>
      <origin xyz="-0.06725603228393816 3.0000000000165657e-05 -0.4448304734420435" rpy="-0.00025958199854238625 0 1.5707963267948972"/>
      <geometry>
        <mesh filename="package://ergoCub/meshes/simmechanics/sim_ecub_realsense_prt.stl" scale="0.001 0.001 0.001"/>
      </geometry>
      <material name="green">
        <color rgba="0 1 0 1"/>
      </material>
    </visual>
    <collision>
      <origin xyz="-0.06725603228393816 3.0000000000165657e-05 -0.4448304734420435" rpy="-0.00025958199854238625 0 1.5707963267948972"/>
      <geometry>
        <mesh filename="package://ergoCub/meshes/simmechanics/sim_ecub_realsense_prt.stl" scale="0.001 0.001 0.001"/>
      </geometry>
    </collision>
  </link>
  <joint name="camera_tilt" type="revolute">
    <origin xyz="0.06250999 -3e-05 0.07639299999999999" rpy="0 0.0002595819985423862 0"/>
    <axis xyz="2.220446049250313e-16 -1.0000000000000002 0.0"/>
    <parent link="head"/>
    <child link="realsense"/>
    <limit effort="50000" lower="-0.5235987755982988" upper="0.5235987755982988" velocity="120.0"/>
    <dynamics damping="2.0" friction="0.0"/>
  </joint>
  <link name="realsense_rgb_frame"/>
  <joint name="realsense_rgb_frame_fixed_joint" type="fixed">
    <origin xyz="0.00751550026595621 -0.0115 0" rpy="-1.5707962931078618 0 -1.5707963267948968"/>
    <parent link="realsense"/>
    <child link="realsense_rgb_frame"/>
    <dynamics damping="0.1"/>
  </joint>
  <link name="realsense_imu_0"/>
  <joint name="realsense_imu_0_fixed_joint" type="fixed">
    <origin xyz="0.00751550026595621 0.010000000000000005 0" rpy="-1.5707962931078618 0 -1.5707963267948968"/>
    <parent link="realsense"/>
    <child link="realsense_imu_0"/>
    <dynamics damping="0.1"/>
  </joint>
  <link name="r_shoulder_1">
    <inertial>
      <origin xyz="0.00017239755152553132 -0.06784047233647011 0.0004755723487094854" rpy="0.12008559189031787 -0.2297881760318691 1.288278055899408"/>
      <mass value="0.792282"/>
      <inertia ixx="0.01" ixy="-0.000205104" ixz="0.000194599" iyy="0.01" iyz="4.97646e-05" izz="0.01"/>
    </inertial>
    <visual>
      <origin xyz="0.021414945972355947 0.10641310711982899 -0.16803579004948574" rpy="0.12008559189031787 -0.2297881760318691 1.288278055899408"/>
      <geometry>
        <mesh filename="package://ergoCub/meshes/simmechanics/sim_ecub_r_shoulder_1_prt.stl" scale="0.001 0.001 0.001"/>
      </geometry>
      <material name="r_shoulder_1_color">
        <color rgba="0.9 0.9 0.9 1"/>
      </material>
    </visual>
    <collision>
      <origin xyz="0.021414945972355947 0.10641310711982899 -0.16803579004948574" rpy="0.12008559189031787 -0.2297881760318691 1.288278055899408"/>
      <geometry>
        <mesh filename="package://ergoCub/meshes/simmechanics/sim_ecub_r_shoulder_1_prt.stl" scale="0.001 0.001 0.001"/>
      </geometry>
    </collision>
  </link>
  <joint name="r_shoulder_pitch" type="revolute">
    <origin xyz="-0.013518700012225604 -0.06704759999753497 0.12352000000000002" rpy="-0.2536122932682645 -0.05203182377908277 0.27527867980625303"/>
    <axis xyz="-3.352246002574083e-07 0.9999999783534191 -2.2068612626213735e-07"/>
    <parent link="chest"/>
    <child link="r_shoulder_1"/>
    <limit effort="50000" lower="-3.0543261909900767" upper="0.3490658503988659" velocity="120.0"/>
    <dynamics damping="2.0" friction="0.0"/>
  </joint>
  <link name="r_shoulder_2">
    <inertial>
      <origin xyz="0.005113569084782329 -0.00021356072357139877 -0.02042558261794522" rpy="0.12008559189031787 -0.2297881760318691 1.288278055899408"/>
      <mass value="0.439227"/>
      <inertia ixx="0.01" ixy="5.0249e-05" ixz="-6.50761e-05" iyy="0.01" iyz="7.8196e-05" izz="0.01"/>
    </inertial>
    <visual>
      <origin xyz="0.013901412308925644 0.1996664041437421 -0.16804657793009403" rpy="0.12008559189031787 -0.2297881760318691 1.288278055899408"/>
      <geometry>
        <mesh filename="package://ergoCub/meshes/simmechanics/sim_ecub_r_shoulder_2_prt.stl" scale="0.001 0.001 0.001"/>
      </geometry>
      <material name="r_shoulder_2_color">
        <color rgba="0.9 0.9 0.9 1"/>
      </material>
    </visual>
    <collision>
      <origin xyz="0.013901412308925644 0.1996664041437421 -0.16804657793009403" rpy="0.12008559189031787 -0.2297881760318691 1.288278055899408"/>
      <geometry>
        <mesh filename="package://ergoCub/meshes/simmechanics/sim_ecub_r_shoulder_2_prt.stl" scale="0.001 0.001 0.001"/>
      </geometry>
    </collision>
  </link>
  <joint name="r_shoulder_roll" type="revolute">
    <origin xyz="0.007499961299727744 -0.09330005268198815 -6.00683019019721e-07" rpy="0 0 0"/>
    <axis xyz="-0.9999998262417322 1.7128582631247002e-07 2.9287109011566503e-07"/>
    <parent link="r_shoulder_1"/>
    <child link="r_shoulder_2"/>
    <limit effort="50000" lower="0.20943951023931956" upper="2.8448866807507573" velocity="120.0"/>
    <dynamics damping="2.0" friction="0.0"/>
  </joint>
  <link name="r_shoulder_3">
    <inertial>
      <origin xyz="-8.316742504336366e-05 -3.0846217982133384e-05 -0.007966675096942724" rpy="0.12008559189031787 -0.2297881760318691 1.288278055899408"/>
      <mass value="0.271466"/>
      <inertia ixx="0.01" ixy="1.72745e-06" ixz="1.11496e-05" iyy="0.01" iyz="5.68308e-06" izz="0.01"/>
    </inertial>
    <visual>
      <origin xyz="0.020751322852116103 0.19966607735058817 -0.11374685915473111" rpy="0.12008559189031787 -0.2297881760318691 1.288278055899408"/>
      <geometry>
        <mesh filename="package://ergoCub/meshes/simmechanics/sim_ecub_r_shoulder_3_prt.stl" scale="0.001 0.001 0.001"/>
      </geometry>
      <material name="r_shoulder_3_color">
        <color rgba="0.9 0.9 0.9 1"/>
      </material>
    </visual>
    <collision>
      <origin xyz="0.020751322852116103 0.19966607735058817 -0.11374685915473111" rpy="0.12008559189031787 -0.2297881760318691 1.288278055899408"/>
      <geometry>
        <mesh filename="package://ergoCub/meshes/simmechanics/sim_ecub_r_shoulder_3_prt.stl" scale="0.001 0.001 0.001"/>
      </geometry>
    </collision>
  </link>
  <joint name="r_arm_ft_sensor" type="fixed">
    <origin xyz="-0.006849910543190453 3.2679315392636354e-07 -0.05429971877536288" rpy="0 0 0"/>
    <parent link="r_shoulder_2"/>
    <child link="r_shoulder_3"/>
    <dynamics damping="0.1"/>
  </joint>
  <link name="r_upperarm">
    <inertial>
      <origin xyz="0.00014706365601642457 -0.002335316124503606 -0.050116658948294965" rpy="0.12008559189031787 -0.2297881760318691 1.288278055899408"/>
      <mass value="1.77224"/>
      <inertia ixx="0.0033762" ixy="-7.67717e-05" ixz="-0.000513353" iyy="0.00337535" iyz="-0.000252914" izz="0.00175772"/>
    </inertial>
    <visual>
      <origin xyz="0.020751359543703093 0.19966616827788958 -0.09124663357473975" rpy="0.12008559189031787 -0.2297881760318691 1.288278055899408"/>
      <geometry>
        <mesh filename="package://ergoCub/meshes/simmechanics/sim_ecub_r_upperarm_prt.stl" scale="0.001 0.001 0.001"/>
      </geometry>
      <material name="black">
        <color rgba="0 0 0 1"/>
      </material>
    </visual>
    <collision>
      <origin xyz="0.020751359543703093 0.19966616827788958 -0.09124663357473975" rpy="0.12008559189031787 -0.2297881760318691 1.288278055899408"/>
      <geometry>
        <mesh filename="package://ergoCub/meshes/simmechanics/sim_ecub_r_upperarm_prt.stl" scale="0.001 0.001 0.001"/>
      </geometry>
    </collision>
  </link>
  <joint name="r_shoulder_yaw" type="revolute">
    <origin xyz="0 0 -0.02250022557998886" rpy="0 0 0"/>
    <axis xyz="1.7133815359560156e-07 -2.3659291614741562e-07 0.999999570574365"/>
    <parent link="r_shoulder_3"/>
    <child link="r_upperarm"/>
    <limit effort="50000" lower="-0.8726646259971648" upper="1.3962634015954636" velocity="120.0"/>
    <dynamics damping="2.0" friction="0.0"/>
  </joint>
  <link name="r_forearm">
    <inertial>
      <origin xyz="-0.018307104773072014 -0.0022154020139300568 -0.08814954804571852" rpy="0.12008559189031787 -0.2297881760318691 1.288278055899408"/>
      <mass value="1.47607"/>
      <inertia ixx="0.01" ixy="-3.23976e-05" ixz="-0.000565139" iyy="0.01" iyz="-0.00022575" izz="0.01"/>
    </inertial>
    <visual>
      <origin xyz="0.010751314930868198 0.19816609582844913 0.032452997316536135" rpy="0.12008559189031787 -0.2297881760318691 1.288278055899408"/>
      <geometry>
        <mesh filename="package://ergoCub/meshes/simmechanics/sim_ecub_r_forearm_prt.stl" scale="0.001 0.001 0.001"/>
      </geometry>
      <material name="r_forearm_color">
        <color rgba="0.3 0.3 0.3 1"/>
      </material>
    </visual>
    <collision>
      <origin xyz="0.010751314930868198 0.19816609582844913 0.032452997316536135" rpy="0.12008559189031787 -0.2297881760318691 1.288278055899408"/>
      <geometry>
        <mesh filename="package://ergoCub/meshes/simmechanics/sim_ecub_r_forearm_prt.stl" scale="0.001 0.001 0.001"/>
      </geometry>
    </collision>
  </link>
  <joint name="r_elbow" type="revolute">
    <origin xyz="0.010000044612835832 0.0015000724494400042 -0.1236996308912752" rpy="0 0 0"/>
    <axis xyz="3.352246002574083e-07 -0.9999999783534191 2.2068612626213735e-07"/>
    <parent link="r_upperarm"/>
    <child link="r_forearm"/>
    <limit effort="50000" lower="-0.05235987755982989" upper="1.3089969389957472" velocity="120.0"/>
    <dynamics damping="2.0" friction="0.0"/>
  </joint>
  <link name="r_wrist_1">
    <inertial>
      <origin xyz="0.0004027631276975127 -0.0010588265415277798 0.019141104288361327" rpy="0.12008559189031787 -0.2297881760318691 1.288278055899408"/>
      <mass value="0.0565425"/>
      <inertia ixx="0.01" ixy="1.02184e-06" ixz="-1.6885e-06" iyy="0.01" iyz="-1.56714e-07" izz="0.01"/>
    </inertial>
    <visual>
      <origin xyz="0.025751515213232788 0.20016678947605634 0.22680306204167924" rpy="0.12008559189031787 -0.2297881760318691 1.288278055899408"/>
      <geometry>
        <mesh filename="package://ergoCub/meshes/simmechanics/sim_ecub_r_wrist_1_prt.stl" scale="0.001 0.001 0.001"/>
      </geometry>
      <material name="r_wrist_1_color">
        <color rgba="0.9 0.9 0.9 1"/>
      </material>
    </visual>
    <collision>
      <origin xyz="0.025751515213232788 0.20016678947605634 0.22680306204167924" rpy="0.12008559189031787 -0.2297881760318691 1.288278055899408"/>
      <geometry>
        <mesh filename="package://ergoCub/meshes/simmechanics/sim_ecub_r_wrist_1_prt.stl" scale="0.001 0.001 0.001"/>
      </geometry>
    </collision>
  </link>
  <joint name="r_wrist_yaw" type="revolute">
    <origin xyz="-0.015000200282364597 -0.002000693647607188 -0.19435006472514327" rpy="0 0 0"/>
    <axis xyz="1.7133815359560156e-07 -2.3659291614741562e-07 0.999999570574365"/>
    <parent link="r_forearm"/>
    <child link="r_wrist_1"/>
    <limit effort="50000" lower="-1.6057029118347832" upper="1.6057029118347832" velocity="120.0"/>
    <dynamics damping="2.0" friction="0.0"/>
  </joint>
  <link name="r_wrist_2">
    <inertial>
      <origin xyz="0.003922717608066478 -0.004519500455993947 0.012277375136226648" rpy="0.12008559189031787 -0.2297881760318691 1.288278055899408"/>
      <mass value="0.0264562"/>
      <inertia ixx="0.01" ixy="-2.5348e-06" ixz="-1.51244e-05" iyy="0.01" iyz="-1.32416e-05" izz="0.01"/>
    </inertial>
    <visual>
      <origin xyz="0.025751515213232896 0.2001667894760563 0.22680306204167938" rpy="0.12008559189031787 -0.2297881760318691 1.288278055899408"/>
      <geometry>
        <mesh filename="package://ergoCub/meshes/simmechanics/sim_ecub_r_wrist_2_prt.stl" scale="0.001 0.001 0.001"/>
      </geometry>
      <material name="red">
        <color rgba="1 0 0 1"/>
      </material>
    </visual>
    <collision>
      <origin xyz="0.025751515213232896 0.2001667894760563 0.22680306204167938" rpy="0.12008559189031787 -0.2297881760318691 1.288278055899408"/>
      <geometry>
        <mesh filename="package://ergoCub/meshes/simmechanics/sim_ecub_r_wrist_2_prt.stl" scale="0.001 0.001 0.001"/>
      </geometry>
    </collision>
  </link>
  <joint name="r_wrist_roll" type="revolute">
    <origin xyz="0 0 0" rpy="0 0 0"/>
    <axis xyz="0.9999998262417322 -1.7128582631247002e-07 -2.9287109011566503e-07"/>
    <parent link="r_wrist_1"/>
    <child link="r_wrist_2"/>
    <limit effort="50000" lower="-1.0821041362364843" upper="0.9075712110370514" velocity="120.0"/>
    <dynamics damping="2.0" friction="0.0"/>
  </joint>
  <link name="r_hand_palm">
    <inertial>
      <origin xyz="-0.003867977118642292 -0.0027924987339268403 -0.059703516091773656" rpy="0.12008559189031787 -0.2297881760318691 1.288278055899408"/>
      <mass value="0.189135"/>
      <inertia ixx="0.01" ixy="1.47038e-05" ixz="-2.03215e-05" iyy="0.01" iyz="5.53109e-06" izz="0.01"/>
    </inertial>
    <visual>
      <origin xyz="0.025751515213232955 0.20016678947605626 0.22680306204167947" rpy="0.12008559189031787 -0.2297881760318691 1.288278055899408"/>
      <geometry>
        <mesh filename="package://ergoCub/meshes/simmechanics/sim_ecub_r_hand_palm_prt.stl" scale="0.001 0.001 0.001"/>
      </geometry>
      <material name="blue">
        <color rgba="0 0 1 1"/>
      </material>
    </visual>
    <collision>
      <origin xyz="0.025751515213232955 0.20016678947605626 0.22680306204167947" rpy="0.12008559189031787 -0.2297881760318691 1.288278055899408"/>
      <geometry>
        <mesh filename="package://ergoCub/meshes/simmechanics/sim_ecub_r_hand_palm_prt.stl" scale="0.001 0.001 0.001"/>
      </geometry>
    </collision>
  </link>
  <joint name="r_wrist_pitch" type="revolute">
    <origin xyz="0 0 0" rpy="0 0 0"/>
    <axis xyz="3.352246002574083e-07 -0.9999999783534191 2.2068612626213735e-07"/>
    <parent link="r_wrist_2"/>
    <child link="r_hand_palm"/>
    <limit effort="50000" lower="-0.5585053606381855" upper="0.5585053606381855" velocity="120.0"/>
    <dynamics damping="2.0" friction="0.0"/>
  </joint>
  <link name="r_hand_pinkie_1">
    <inertial>
      <origin xyz="0.00012066652469317624 0.003705246125831174 -0.011966578146940299" rpy="0.03293841693450851 -0.2510502277214382 -1.8063707999903837"/>
      <mass value="0.00283627"/>
      <inertia ixx="0.01" ixy="-3.01698e-10" ixz="-3.25911e-08" iyy="0.01" iyz="-5.31232e-09" izz="0.01"/>
    </inertial>
    <visual>
      <origin xyz="-0.028527203126593598 -0.19932629907859575 0.32260234794349524" rpy="0.03293841693450851 -0.2510502277214382 -1.8063707999903837"/>
      <geometry>
        <mesh filename="package://ergoCub/meshes/simmechanics/sim_ecub_r_hand_pinkie_1_prt.stl" scale="0.001 0.001 0.001"/>
      </geometry>
      <material name="yellow">
        <color rgba="1 1 0 1"/>
      </material>
    </visual>
    <collision>
      <origin xyz="-0.028527203126593598 -0.19932629907859575 0.32260234794349524" rpy="0.03293841693450851 -0.2510502277214382 -1.8063707999903837"/>
      <geometry>
        <mesh filename="package://ergoCub/meshes/simmechanics/sim_ecub_r_hand_pinkie_1_prt.stl" scale="0.001 0.001 0.001"/>
      </geometry>
    </collision>
  </link>
  <joint name="r_pinkie_prox" type="revolute">
    <origin xyz="-0.0359822951163049 0.0023886829394013653 -0.09208533059471607" rpy="0 -0.08726707208822813 3.1154130190543565"/>
    <axis xyz="-1.0000005135466863 1.979209419246744e-07 4.060128685548503e-07"/>
    <parent link="r_hand_palm"/>
    <child link="r_hand_pinkie_1"/>
    <limit effort="50000" lower="0.0" upper="2.792526803190927" velocity="120.0"/>
    <dynamics damping="2.0" friction="0.0"/>
  </joint>
  <link name="r_hand_pinkie_2">
    <inertial>
      <origin xyz="1.719707008788693e-05 0.0017846869131176168 -0.005611909589696484" rpy="0.03293841693450851 -0.2510502277214382 -1.8063707999903837"/>
      <mass value="0.00857923"/>
      <inertia ixx="0.01" ixy="-3.59629e-08" ixz="-7.27668e-07" iyy="0.01" iyz="-1.08559e-07" izz="0.01"/>
    </inertial>
    <visual>
      <origin xyz="-0.028527291616398734 -0.19782654821837029 0.34760258035440544" rpy="0.03293841693450851 -0.2510502277214382 -1.8063707999903837"/>
      <geometry>
        <mesh filename="package://ergoCub/meshes/simmechanics/sim_ecub_r_hand_pinkie_2_prt.stl" scale="0.001 0.001 0.001"/>
      </geometry>
      <material name="pink">
        <color rgba="1 0 1 1"/>
      </material>
    </visual>
    <collision>
      <origin xyz="-0.028527291616398734 -0.19782654821837029 0.34760258035440544" rpy="0.03293841693450851 -0.2510502277214382 -1.8063707999903837"/>
      <geometry>
        <mesh filename="package://ergoCub/meshes/simmechanics/sim_ecub_r_hand_pinkie_2_prt.stl" scale="0.001 0.001 0.001"/>
      </geometry>
    </collision>
  </link>
  <joint name="r_pinkie_dist" type="revolute">
    <origin xyz="0 -0.0014997508602252463 -0.025000232410908152" rpy="0 0 0"/>
    <axis xyz="-1.0000005135466863 1.979209419246744e-07 4.060128685548503e-07"/>
    <parent link="r_hand_pinkie_1"/>
    <child link="r_hand_pinkie_2"/>
    <limit effort="50000" lower="0.0" upper="2.792526803190927" velocity="120.0"/>
    <dynamics damping="2.0" friction="0.0"/>
  </joint>
  <link name="r_hand_thumb_1">
    <inertial>
      <origin xyz="0.02075810820348767 -0.002744804986799132 -0.008805475830796439" rpy="0.3407559733652856 -0.16157290397540885 0.8505098820311924"/>
      <mass value="0.0346205"/>
      <inertia ixx="0.01" ixy="2.20083e-06" ixz="5.98173e-07" iyy="0.01" iyz="-2.49938e-06" izz="0.01"/>
    </inertial>
    <visual>
      <origin xyz="0.1322152574525801 0.15851578156756058 0.2540941242362456" rpy="0.3407559733652856 -0.16157290397540885 0.8505098820311924"/>
      <geometry>
        <mesh filename="package://ergoCub/meshes/simmechanics/sim_ecub_r_hand_thumb_1_prt.stl" scale="0.001 0.001 0.001"/>
      </geometry>
      <material name="cyan">
        <color rgba="0 1 1 1"/>
      </material>
    </visual>
    <collision>
      <origin xyz="0.1322152574525801 0.15851578156756058 0.2540941242362456" rpy="0.3407559733652856 -0.16157290397540885 0.8505098820311924"/>
      <geometry>
        <mesh filename="package://ergoCub/meshes/simmechanics/sim_ecub_r_hand_thumb_1_prt.stl" scale="0.001 0.001 0.001"/>
      </geometry>
    </collision>
  </link>
  <joint name="r_thumb_add" type="revolute">
    <origin xyz="0.023374917753110392 0.003000077535523449 -0.03452353585390944" rpy="-0.08853690416789765 -0.20917986809225603 0.403968951543933"/>
    <axis xyz="9.579078125154794e-08 6.90101361611184e-08 1.0000003967894142"/>
    <parent link="r_hand_palm"/>
    <child link="r_hand_thumb_1"/>
    <limit effort="50000" lower="0.0" upper="1.0471975511965976" velocity="120.0"/>
    <dynamics damping="2.0" friction="0.0"/>
  </joint>
  <link name="r_hand_thumb_2">
    <inertial>
      <origin xyz="0.00979187694508614 0.004339443067746446 0.00026267613914748855" rpy="-1.3050072033505575 0.9949590577630557 0.6894456200851217"/>
      <mass value="0.00246082"/>
      <inertia ixx="0.01" ixy="1.42363e-08" ixz="1.51571e-08" iyy="0.01" iyz="-2.56683e-08" izz="0.01"/>
    </inertial>
    <visual>
      <origin xyz="-0.0921942222362805 0.2394763188666295 -0.21981468433736873" rpy="-1.3050072033505575 0.9949590577630557 0.6894456200851217"/>
      <geometry>
        <mesh filename="package://ergoCub/meshes/simmechanics/sim_ecub_r_hand_thumb_2_prt.stl" scale="0.001 0.001 0.001"/>
      </geometry>
      <material name="green">
        <color rgba="0 1 0 1"/>
      </material>
    </visual>
    <collision>
      <origin xyz="-0.0921942222362805 0.2394763188666295 -0.21981468433736873" rpy="-1.3050072033505575 0.9949590577630557 0.6894456200851217"/>
      <geometry>
        <mesh filename="package://ergoCub/meshes/simmechanics/sim_ecub_r_hand_thumb_2_prt.stl" scale="0.001 0.001 0.001"/>
      </geometry>
    </collision>
  </link>
  <joint name="r_thumb_prox" type="revolute">
    <origin xyz="0.0345419043814173 -0.0031447987794122334 -0.026071809138455138" rpy="1.7929080217310676 0.6514101167838809 -1.1138050653581883e-07"/>
    <axis xyz="2.036798052024169e-07 1.5008516943137984e-07 -1.000000226690442"/>
    <parent link="r_hand_thumb_1"/>
    <child link="r_hand_thumb_2"/>
    <limit effort="50000" lower="0.0" upper="2.792526803190927" velocity="120.0"/>
    <dynamics damping="2.0" friction="0.0"/>
  </joint>
  <link name="r_hand_thumb_3">
    <inertial>
      <origin xyz="0.006464178605992216 0.001884904152624961 1.5404066026875052e-05" rpy="-1.3050072033505575 0.9949590577630557 0.6894456200851217"/>
      <mass value="0.00811336"/>
      <inertia ixx="0.01" ixy="6.72467e-07" ixz="3.3847e-07" iyy="0.01" iyz="-6.23617e-07" izz="0.01"/>
    </inertial>
    <visual>
      <origin xyz="-0.11219374098962233 0.2409758366164094 -0.21981429340190012" rpy="-1.3050072033505575 0.9949590577630557 0.6894456200851217"/>
      <geometry>
        <mesh filename="package://ergoCub/meshes/simmechanics/sim_ecub_r_hand_thumb_3_prt.stl" scale="0.001 0.001 0.001"/>
      </geometry>
      <material name="white">
        <color rgba="1 1 1 1"/>
      </material>
    </visual>
    <collision>
      <origin xyz="-0.11219374098962233 0.2409758366164094 -0.21981429340190012" rpy="-1.3050072033505575 0.9949590577630557 0.6894456200851217"/>
      <geometry>
        <mesh filename="package://ergoCub/meshes/simmechanics/sim_ecub_r_hand_thumb_3_prt.stl" scale="0.001 0.001 0.001"/>
      </geometry>
    </collision>
  </link>
  <joint name="r_thumb_dist" type="revolute">
    <origin xyz="0.019999518753341633 -0.0014995177497797996 -3.909354686637556e-07" rpy="0 0 0"/>
    <axis xyz="2.036798052024169e-07 1.5008516943137984e-07 -1.000000226690442"/>
    <parent link="r_hand_thumb_2"/>
    <child link="r_hand_thumb_3"/>
    <limit effort="50000" lower="0.0" upper="2.792526803190927" velocity="120.0"/>
    <dynamics damping="2.0" friction="0.0"/>
  </joint>
  <link name="r_hand_thumb_skin_0"/>
  <joint name="r_hand_thumb_skin_0_fixed_joint" type="fixed">
    <origin xyz="0.020306533907145166 -0.0024343057730962236 1.0397284419816355e-06" rpy="1.5707964766707783 0 -0.3483080823075038"/>
    <parent link="r_hand_thumb_3"/>
    <child link="r_hand_thumb_skin_0"/>
    <dynamics damping="0.1"/>
  </joint>
  <link name="r_hand_thumb_skin_1"/>
  <joint name="r_hand_thumb_skin_1_fixed_joint" type="fixed">
    <origin xyz="0.022181514608171235 -0.0031315753693715864 0.0033003779167594116" rpy="1.5707959518025376 -2.240241662176975e-07 -0.35068660322761297"/>
    <parent link="r_hand_thumb_3"/>
    <child link="r_hand_thumb_skin_1"/>
    <dynamics damping="0.1"/>
  </joint>
  <link name="r_hand_thumb_skin_2"/>
  <joint name="r_hand_thumb_skin_2_fixed_joint" type="fixed">
    <origin xyz="0.024092766105114335 -0.003758664710135945 0" rpy="1.5707964275257265 -1.835551116380351e-07 -0.2650566454956479"/>
    <parent link="r_hand_thumb_3"/>
    <child link="r_hand_thumb_skin_2"/>
    <dynamics damping="0.1"/>
  </joint>
  <link name="r_hand_thumb_skin_3"/>
  <joint name="r_hand_thumb_skin_3_fixed_joint" type="fixed">
    <origin xyz="0.026667717702939006 -0.004082289625380764 0.0032999352919206304" rpy="1.5707959455998035 0 0.06601999324156192"/>
    <parent link="r_hand_thumb_3"/>
    <child link="r_hand_thumb_skin_3"/>
    <dynamics damping="0.1"/>
  </joint>
  <link name="r_hand_thumb_skin_4"/>
  <joint name="r_hand_thumb_skin_4_fixed_joint" type="fixed">
    <origin xyz="0.02690063775813216 -0.001192766703610404 0.00592978690987403" rpy="0.3770235759970468 0.2531253892798945 0.09883876086864818"/>
    <parent link="r_hand_thumb_3"/>
    <child link="r_hand_thumb_skin_4"/>
    <dynamics damping="0.1"/>
  </joint>
  <link name="r_hand_thumb_skin_5"/>
  <joint name="r_hand_thumb_skin_5_fixed_joint" type="fixed">
    <origin xyz="0.02873547899028915 -0.0034768652666125888 3.412859334861462e-07" rpy="1.5707964228187474 -1.5765261132672026e-07 0.48457061294039566"/>
    <parent link="r_hand_thumb_3"/>
    <child link="r_hand_thumb_skin_5"/>
    <dynamics damping="0.1"/>
  </joint>
  <link name="r_hand_thumb_skin_6"/>
  <joint name="r_hand_thumb_skin_6_fixed_joint" type="fixed">
    <origin xyz="0.030671760207808 -0.0018250312131609936 0.0033002175421802393" rpy="0.7821848393014904 0.6234818225335702 0.5256775270061106"/>
    <parent link="r_hand_thumb_3"/>
    <child link="r_hand_thumb_skin_6"/>
    <dynamics damping="0.1"/>
  </joint>
  <link name="r_hand_thumb_skin_7"/>
  <joint name="r_hand_thumb_skin_7_fixed_joint" type="fixed">
    <origin xyz="0.03217216338109173 -0.000273117886959634 0" rpy="1.5704937922637117 0.00042413338882563444 0.952377708566445"/>
    <parent link="r_hand_thumb_3"/>
    <child link="r_hand_thumb_skin_7"/>
    <dynamics damping="0.1"/>
  </joint>
  <link name="r_hand_thumb_skin_8"/>
  <joint name="r_hand_thumb_skin_8_fixed_joint" type="fixed">
    <origin xyz="0.030672481980215036 -0.0018246596063155873 -0.003299670361485485" rpy="2.359407636424222 -0.6234822954061497 0.5256775552228076"/>
    <parent link="r_hand_thumb_3"/>
    <child link="r_hand_thumb_skin_8"/>
    <dynamics damping="0.1"/>
  </joint>
  <link name="r_hand_thumb_skin_9"/>
  <joint name="r_hand_thumb_skin_9_fixed_joint" type="fixed">
    <origin xyz="0.026900216455781042 -0.0011927826587152801 -0.005928741363999179" rpy="2.764568142309075 -0.25312574742097016 0.09883922008926718"/>
    <parent link="r_hand_thumb_3"/>
    <child link="r_hand_thumb_skin_9"/>
    <dynamics damping="0.1"/>
  </joint>
  <link name="r_hand_thumb_skin_10"/>
  <joint name="r_hand_thumb_skin_10_fixed_joint" type="fixed">
    <origin xyz="0.026667227780490785 -0.004082576521223208 -0.0032996392911617267" rpy="1.5707959455998035 0 0.06601999324156192"/>
    <parent link="r_hand_thumb_3"/>
    <child link="r_hand_thumb_skin_10"/>
    <dynamics damping="0.1"/>
  </joint>
  <link name="r_hand_thumb_skin_11"/>
  <joint name="r_hand_thumb_skin_11_fixed_joint" type="fixed">
    <origin xyz="0.022181444849985063 -0.003131515879897573 -0.0033000354029952272" rpy="1.5707959518025376 -2.240241662176975e-07 -0.35068660322761297"/>
    <parent link="r_hand_thumb_3"/>
    <child link="r_hand_thumb_skin_11"/>
    <dynamics damping="0.1"/>
  </joint>
  <link name="r_hand_middle_1">
    <inertial>
      <origin xyz="0.00014288935851115847 0.0036432747742552174 -0.014331647143315362" rpy="0.12008501986317731 -0.2297882840735942 -1.8533146530335884"/>
      <mass value="0.00345703"/>
      <inertia ixx="0.01" ixy="-5.70924e-09" ixz="-5.08723e-08" iyy="0.01" iyz="-3.26866e-08" izz="0.01"/>
    </inertial>
    <visual>
      <origin xyz="-0.016151209552036482 -0.19866593918881123 0.3298029428237952" rpy="0.12008501986317731 -0.2297882840735942 -1.8533146530335884"/>
      <geometry>
        <mesh filename="package://ergoCub/meshes/simmechanics/sim_ecub_r_hand_middle_1_prt.stl" scale="0.001 0.001 0.001"/>
      </geometry>
      <material name="dblue">
        <color rgba="0 0 0.8 1"/>
      </material>
    </visual>
    <collision>
      <origin xyz="-0.016151209552036482 -0.19866593918881123 0.3298029428237952" rpy="0.12008501986317731 -0.2297882840735942 -1.8533146530335884"/>
      <geometry>
        <mesh filename="package://ergoCub/meshes/simmechanics/sim_ecub_r_hand_middle_1_prt.stl" scale="0.001 0.001 0.001"/>
      </geometry>
    </collision>
  </link>
  <joint name="r_middle_prox" type="revolute">
    <origin xyz="0.009600156192095581 0.0015008642793520877 -0.10299988189076881" rpy="0 -5.650294234014884e-07 -3.141592467955196"/>
    <axis xyz="-0.9999998262416893 3.56920377206707e-07 2.721582535170075e-07"/>
    <parent link="r_hand_palm"/>
    <child link="r_hand_middle_1"/>
    <limit effort="50000" lower="0.0" upper="2.792526803190927" velocity="120.0"/>
    <dynamics damping="2.0" friction="0.0"/>
  </joint>
  <link name="r_hand_middle_2">
    <inertial>
      <origin xyz="5.143109505646379e-05 0.0015994843505622303 -0.0035910973065023666" rpy="0.11954926259843997 -0.22799029281164018 -1.8531928341958708"/>
      <mass value="0.00912524"/>
      <inertia ixx="0.01" ixy="-1.25412e-07" ixz="-8.73252e-07" iyy="0.01" iyz="-4.04969e-07" izz="0.01"/>
    </inertial>
    <visual>
      <origin xyz="-0.016151302128169853 -0.1978396872777643 0.3594333857584242" rpy="0.11954926259843997 -0.22799029281164018 -1.8531928341958708"/>
      <geometry>
        <mesh filename="package://ergoCub/meshes/simmechanics/sim_ecub_r_hand_middle_2_prt.stl" scale="0.001 0.001 0.001"/>
      </geometry>
      <material name="dgreen">
        <color rgba="0.1 0.8 0.1 1"/>
      </material>
    </visual>
    <collision>
      <origin xyz="-0.016151302128169853 -0.1978396872777643 0.3594333857584242" rpy="0.11954926259843997 -0.22799029281164018 -1.8531928341958708"/>
      <geometry>
        <mesh filename="package://ergoCub/meshes/simmechanics/sim_ecub_r_hand_middle_2_prt.stl" scale="0.001 0.001 0.001"/>
      </geometry>
    </collision>
  </link>
  <joint name="r_middle_dist" type="revolute">
    <origin xyz="1.3550151000546462e-07 -0.0014995238274964628 -0.03000020325318492" rpy="-0.0018721728628663644 0 -2.576685250299645e-07"/>
    <axis xyz="-0.9999998262417538 9.878318872787173e-08 2.5044776373606137e-07"/>
    <parent link="r_hand_middle_1"/>
    <child link="r_hand_middle_2"/>
    <limit effort="50000" lower="0.0" upper="2.792526803190927" velocity="120.0"/>
    <dynamics damping="2.0" friction="0.0"/>
  </joint>
  <link name="r_hand_middle_skin_0"/>
  <joint name="r_hand_middle_skin_0_fixed_joint" type="fixed">
    <origin xyz="0 -0.0024341633880323454 -0.02140626784029226" rpy="-2.888002141897799e-07 1.2224888157071614 -1.5707967443194422"/>
    <parent link="r_hand_middle_2"/>
    <child link="r_hand_middle_skin_0"/>
    <dynamics damping="0.1"/>
  </joint>
  <link name="r_hand_middle_skin_1"/>
  <joint name="r_hand_middle_skin_1_fixed_joint" type="fixed">
    <origin xyz="0.0032999302761450126 -0.0031315344195035066 -0.023280711530192733" rpy="-1.4298532745530854e-06 1.2201100060845362 -1.5707976149443068"/>
    <parent link="r_hand_middle_2"/>
    <child link="r_hand_middle_skin_1"/>
    <dynamics damping="0.1"/>
  </joint>
  <link name="r_hand_middle_skin_2"/>
  <joint name="r_hand_middle_skin_2_fixed_joint" type="fixed">
    <origin xyz="0 -0.0037584600637464993 -0.025193167911877645" rpy="-2.6780538415934596e-06 1.305739726207208 -1.5707987725046209"/>
    <parent link="r_hand_middle_2"/>
    <child link="r_hand_middle_skin_2"/>
    <dynamics damping="0.1"/>
  </joint>
  <link name="r_hand_middle_skin_3"/>
  <joint name="r_hand_middle_skin_3_fixed_joint" type="fixed">
    <origin xyz="0.0032999688028366864 -0.004081937549531761 -0.027767599906222185" rpy="-3.1415858006046733 1.5047760963753847 1.5708033199852864"/>
    <parent link="r_hand_middle_2"/>
    <child link="r_hand_middle_skin_3"/>
    <dynamics damping="0.1"/>
  </joint>
  <link name="r_hand_middle_skin_4"/>
  <joint name="r_hand_middle_skin_4_fixed_joint" type="fixed">
    <origin xyz="0.005929566529031996 -0.0011920519924579764 -0.028000347463470243" rpy="3.141592260042173 1.2994442393401489 2.777155482919476"/>
    <parent link="r_hand_middle_2"/>
    <child link="r_hand_middle_skin_4"/>
    <dynamics damping="0.1"/>
  </joint>
  <link name="r_hand_middle_skin_5"/>
  <joint name="r_hand_middle_skin_5_fixed_joint" type="fixed">
    <origin xyz="0 -0.0034765832806818997 -0.02983570347842418" rpy="-3.1415923106025314 1.086225709334958 1.570796364632236"/>
    <parent link="r_hand_middle_2"/>
    <child link="r_hand_middle_skin_5"/>
    <dynamics damping="0.1"/>
  </joint>
  <link name="r_hand_middle_skin_6"/>
  <joint name="r_hand_middle_skin_6_fixed_joint" type="fixed">
    <origin xyz="0.0032999946700499154 -0.0018244087955724964 -0.0317716170907979" rpy="3.141592114011197 0.778535719104729 2.532385576753663"/>
    <parent link="r_hand_middle_2"/>
    <child link="r_hand_middle_skin_6"/>
    <dynamics damping="0.1"/>
  </joint>
  <link name="r_hand_middle_skin_7"/>
  <joint name="r_hand_middle_skin_7_fixed_joint" type="fixed">
    <origin xyz="0 -0.0002725978091493997 -0.033271502713935364" rpy="-3.1415924148088807 0.618418747537505 1.5713170250376087"/>
    <parent link="r_hand_middle_2"/>
    <child link="r_hand_middle_skin_7"/>
    <dynamics damping="0.1"/>
  </joint>
  <link name="r_hand_middle_skin_8"/>
  <joint name="r_hand_middle_skin_8_fixed_joint" type="fixed">
    <origin xyz="-0.0033001032954547184 -0.0018248945553451246 -0.031771757727755756" rpy="3.1415924841511433 0.7785357399039171 0.6092069609627565"/>
    <parent link="r_hand_middle_2"/>
    <child link="r_hand_middle_skin_8"/>
    <dynamics damping="0.1"/>
  </joint>
  <link name="r_hand_middle_skin_9"/>
  <joint name="r_hand_middle_skin_9_fixed_joint" type="fixed">
    <origin xyz="-0.005929732632988013 -0.001192832553830403 -0.027999915681298115" rpy="-3.1415923364133644 1.2994449456881931 0.36443740406990854"/>
    <parent link="r_hand_middle_2"/>
    <child link="r_hand_middle_skin_9"/>
    <dynamics damping="0.1"/>
  </joint>
  <link name="r_hand_middle_skin_10"/>
  <joint name="r_hand_middle_skin_10_fixed_joint" type="fixed">
    <origin xyz="-0.003300181170510192 -0.004082174556855278 -0.027766773373389564" rpy="-3.1415858006046733 1.5047760963753847 1.5708033199852864"/>
    <parent link="r_hand_middle_2"/>
    <child link="r_hand_middle_skin_10"/>
    <dynamics damping="0.1"/>
  </joint>
  <link name="r_hand_middle_skin_11"/>
  <joint name="r_hand_middle_skin_11_fixed_joint" type="fixed">
    <origin xyz="-0.0032999923469937895 -0.0031310595632358384 -0.023281089805274435" rpy="-1.4298532745530854e-06 1.2201100060845362 -1.5707976149443068"/>
    <parent link="r_hand_middle_2"/>
    <child link="r_hand_middle_skin_11"/>
    <dynamics damping="0.1"/>
  </joint>
  <link name="r_hand_ring_1">
    <inertial>
      <origin xyz="0.0001425535059396731 0.003642056791252346 -0.014331791473058741" rpy="0.03293841693450851 -0.2510502277214382 -1.8063707999903837"/>
      <mass value="0.00345703"/>
      <inertia ixx="0.01" ixy="-1.91202e-09" ixz="-5.67574e-08" iyy="0.01" iyz="-1.09909e-08" izz="0.01"/>
    </inertial>
    <visual>
      <origin xyz="-0.0075272370088071685 -0.1993263860452732 0.32660238489385823" rpy="0.03293841693450851 -0.2510502277214382 -1.8063707999903837"/>
      <geometry>
        <mesh filename="package://ergoCub/meshes/simmechanics/sim_ecub_r_hand_ring_1_prt.stl" scale="0.001 0.001 0.001"/>
      </geometry>
      <material name="gray">
        <color rgba="0.5 0.5 0.5 1"/>
      </material>
    </visual>
    <collision>
      <origin xyz="-0.0075272370088071685 -0.1993263860452732 0.32660238489385823" rpy="0.03293841693450851 -0.2510502277214382 -1.8063707999903837"/>
      <geometry>
        <mesh filename="package://ergoCub/meshes/simmechanics/sim_ecub_r_hand_ring_1_prt.stl" scale="0.001 0.001 0.001"/>
      </geometry>
    </collision>
  </link>
  <joint name="r_ring_prox" type="revolute">
    <origin xyz="-0.01541792137789915 0.0018501048853160618 -0.09790042637955282" rpy="0 -0.08726707208822813 3.1154130190543565"/>
    <axis xyz="-1.0000005135466863 1.979209419246744e-07 4.060128685548503e-07"/>
    <parent link="r_hand_palm"/>
    <child link="r_hand_ring_1"/>
    <limit effort="50000" lower="0.0" upper="2.792526803190927" velocity="120.0"/>
    <dynamics damping="2.0" friction="0.0"/>
  </joint>
  <link name="r_hand_ring_2">
    <inertial>
      <origin xyz="5.1290196883116423e-05 0.001669633724482783 -0.0035938083354254413" rpy="0.03293841693450851 -0.2510502277214382 -1.8063707999903837"/>
      <mass value="0.0091955"/>
      <inertia ixx="0.01" ixy="-5.0923e-08" ixz="-9.41261e-07" iyy="0.01" iyz="-1.45057e-07" izz="0.01"/>
    </inertial>
    <visual>
      <origin xyz="-0.007527194888446845 -0.19782646544374372 0.35660294900517864" rpy="0.03293841693450851 -0.2510502277214382 -1.8063707999903837"/>
      <geometry>
        <mesh filename="package://ergoCub/meshes/simmechanics/sim_ecub_r_hand_ring_2_prt.stl" scale="0.001 0.001 0.001"/>
      </geometry>
      <material name="green">
        <color rgba="0 1 0 1"/>
      </material>
    </visual>
    <collision>
      <origin xyz="-0.007527194888446845 -0.19782646544374372 0.35660294900517864" rpy="0.03293841693450851 -0.2510502277214382 -1.8063707999903837"/>
      <geometry>
        <mesh filename="package://ergoCub/meshes/simmechanics/sim_ecub_r_hand_ring_2_prt.stl" scale="0.001 0.001 0.001"/>
      </geometry>
    </collision>
  </link>
  <joint name="r_ring_dist" type="revolute">
    <origin xyz="0 -0.0014999206015293143 -0.03000056411131863" rpy="0 0 0"/>
    <axis xyz="-1.0000005135466863 1.979209419246744e-07 4.060128685548503e-07"/>
    <parent link="r_hand_ring_1"/>
    <child link="r_hand_ring_2"/>
    <limit effort="50000" lower="0.0" upper="2.792526803190927" velocity="120.0"/>
    <dynamics damping="2.0" friction="0.0"/>
  </joint>
  <link name="r_hand_ring_skin_0"/>
  <joint name="r_hand_ring_skin_0_fixed_joint" type="fixed">
    <origin xyz="6.369438959753088e-07 -0.0024437159778973594 -0.021405514485143107" rpy="-1.8198440874177978e-06 1.222171074662119 -1.570798078779304"/>
    <parent link="r_hand_ring_2"/>
    <child link="r_hand_ring_skin_0"/>
    <dynamics damping="0.1"/>
  </joint>
  <link name="r_hand_ring_skin_1"/>
  <joint name="r_hand_ring_skin_1_fixed_joint" type="fixed">
    <origin xyz="0.003300577895109416 -0.0031419827756992147 -0.023279866908672953" rpy="-8.828925104148836e-07 1.2197920927650072 -1.5707973488537736"/>
    <parent link="r_hand_ring_2"/>
    <child link="r_hand_ring_skin_1"/>
    <dynamics damping="0.1"/>
  </joint>
  <link name="r_hand_ring_skin_2"/>
  <joint name="r_hand_ring_skin_2_fixed_joint" type="fixed">
    <origin xyz="6.542383091199394e-07 -0.003769121754147453 -0.02519099159351179" rpy="-2.1979342417368875e-06 1.3054216764415913 -1.5707985350956188"/>
    <parent link="r_hand_ring_2"/>
    <child link="r_hand_ring_skin_2"/>
    <dynamics damping="0.1"/>
  </joint>
  <link name="r_hand_ring_skin_3"/>
  <joint name="r_hand_ring_skin_3_fixed_joint" type="fixed">
    <origin xyz="0.0033005451413349873 -0.00409366356087959 -0.027765768308842753" rpy="-3.1415881649812016 1.5050938361710562 1.5708006164943"/>
    <parent link="r_hand_ring_2"/>
    <child link="r_hand_ring_skin_3"/>
    <dynamics damping="0.1"/>
  </joint>
  <link name="r_hand_ring_skin_4"/>
  <joint name="r_hand_ring_skin_4_fixed_joint" type="fixed">
    <origin xyz="0.005930120746728084 -0.0012042766764265855 -0.02799917777196037" rpy="-3.1404875010050004 1.2995572108592925 2.778219856114847"/>
    <parent link="r_hand_ring_2"/>
    <child link="r_hand_ring_skin_4"/>
    <dynamics damping="0.1"/>
  </joint>
  <link name="r_hand_ring_skin_5"/>
  <joint name="r_hand_ring_skin_5_fixed_joint" type="fixed">
    <origin xyz="5.308718775357685e-07 -0.0034891781806687394 -0.02983370559185905" rpy="-3.141591609794059 1.0865431510862156 1.5707972515436073"/>
    <parent link="r_hand_ring_2"/>
    <child link="r_hand_ring_skin_5"/>
    <dynamics damping="0.1"/>
  </joint>
  <link name="r_hand_ring_skin_6"/>
  <joint name="r_hand_ring_skin_6_fixed_joint" type="fixed">
    <origin xyz="0.0033005698496152962 -0.0018374330365136249 -0.03177047454405013" rpy="-3.1412265136676125 0.7787173410213876 2.5326427664034585"/>
    <parent link="r_hand_ring_2"/>
    <child link="r_hand_ring_skin_6"/>
    <dynamics damping="0.1"/>
  </joint>
  <link name="r_hand_ring_skin_7"/>
  <joint name="r_hand_ring_skin_7_fixed_joint" type="fixed">
    <origin xyz="6.201472224371535e-07 -0.0002860438799534015 -0.03327122378579056" rpy="-3.1415918554197564 0.6187360445083335 1.5713172257908574"/>
    <parent link="r_hand_ring_2"/>
    <child link="r_hand_ring_skin_7"/>
    <dynamics damping="0.1"/>
  </joint>
  <link name="r_hand_ring_skin_8"/>
  <joint name="r_hand_ring_skin_8_fixed_joint" type="fixed">
    <origin xyz="-0.0032993851081752224 -0.0018375074923376311 -0.03177136313433143" rpy="3.1412269734474307 0.7787178284081474 0.608949710350258"/>
    <parent link="r_hand_ring_2"/>
    <child link="r_hand_ring_skin_8"/>
    <dynamics damping="0.1"/>
  </joint>
  <link name="r_hand_ring_skin_9"/>
  <joint name="r_hand_ring_skin_9_fixed_joint" type="fixed">
    <origin xyz="-0.0059288844459949135 -0.00120401327023123 -0.02799875399568963" rpy="3.140488583833023 1.2995578078276662 0.3633736430221612"/>
    <parent link="r_hand_ring_2"/>
    <child link="r_hand_ring_skin_9"/>
    <dynamics damping="0.1"/>
  </joint>
  <link name="r_hand_ring_skin_10"/>
  <joint name="r_hand_ring_skin_10_fixed_joint" type="fixed">
    <origin xyz="-0.0032993838888264685 -0.00409348890113434 -0.02776568877248392" rpy="-3.1415881649812016 1.5050938361710562 1.5708006164943"/>
    <parent link="r_hand_ring_2"/>
    <child link="r_hand_ring_skin_10"/>
    <dynamics damping="0.1"/>
  </joint>
  <link name="r_hand_ring_skin_11"/>
  <joint name="r_hand_ring_skin_11_fixed_joint" type="fixed">
    <origin xyz="-0.0032994485112988765 -0.0031417855839680486 -0.02327979056232371" rpy="-8.828925104148836e-07 1.2197920927650072 -1.5707973488537736"/>
    <parent link="r_hand_ring_2"/>
    <child link="r_hand_ring_skin_11"/>
    <dynamics damping="0.1"/>
  </joint>
  <link name="r_hand_index_1">
    <inertial>
      <origin xyz="-0.008756982341444002 0.004177503042098157 -0.017783405308458122" rpy="0.20567444929844825 -0.20467244819585653 -1.8717733650332327"/>
      <mass value="0.0183891"/>
      <inertia ixx="0.01" ixy="-9.52402e-08" ixz="-6.61946e-08" iyy="0.01" iyz="-4.84755e-07" izz="0.01"/>
    </inertial>
    <visual>
      <origin xyz="-0.029013910407855708 -0.1986661648104217 0.29398252253935925" rpy="0.20567444929844825 -0.20467244819585653 -1.8717733650332327"/>
      <geometry>
        <mesh filename="package://ergoCub/meshes/simmechanics/sim_ecub_r_hand_index_1_prt.stl" scale="0.001 0.001 0.001"/>
      </geometry>
      <material name="black">
        <color rgba="0 0 0 1"/>
      </material>
    </visual>
    <collision>
      <origin xyz="-0.029013910407855708 -0.1986661648104217 0.29398252253935925" rpy="0.20567444929844825 -0.20467244819585653 -1.8717733650332327"/>
      <geometry>
        <mesh filename="package://ergoCub/meshes/simmechanics/sim_ecub_r_hand_index_1_prt.stl" scale="0.001 0.001 0.001"/>
      </geometry>
    </collision>
  </link>
  <joint name="r_index_add" type="revolute">
    <origin xyz="0.02247013280412654 0.0015006329961735065 -0.06858950116064205" rpy="0 0.08726600527288864 3.141592607344335"/>
    <axis xyz="-3.992524267790176e-07 0.999999978353397 2.1441989261905547e-07"/>
    <parent link="r_hand_palm"/>
    <child link="r_hand_index_1"/>
    <limit effort="50000" lower="0.0" upper="0.3490658503988659" velocity="120.0"/>
    <dynamics damping="2.0" friction="0.0"/>
  </joint>
  <link name="r_hand_index_2">
    <inertial>
      <origin xyz="0.00014273208930987158 0.0036431776269647553 -0.014331302030487825" rpy="0.20567444929844825 -0.20467244819585653 -1.8717733650332327"/>
      <mass value="0.00345703"/>
      <inertia ixx="0.01" ixy="-8.54016e-09" ixz="-4.40204e-08" iyy="0.01" iyz="-5.37044e-08" izz="0.01"/>
    </inertial>
    <visual>
      <origin xyz="-0.01982136066481879 -0.19866600173088222 0.3246961457413716" rpy="0.20567444929844825 -0.20467244819585653 -1.8717733650332327"/>
      <geometry>
        <mesh filename="package://ergoCub/meshes/simmechanics/sim_ecub_r_hand_index_2_prt.stl" scale="0.001 0.001 0.001"/>
      </geometry>
      <material name="red">
        <color rgba="1 0 0 1"/>
      </material>
    </visual>
    <collision>
      <origin xyz="-0.01982136066481879 -0.19866600173088222 0.3246961457413716" rpy="0.20567444929844825 -0.20467244819585653 -1.8717733650332327"/>
      <geometry>
        <mesh filename="package://ergoCub/meshes/simmechanics/sim_ecub_r_hand_index_2_prt.stl" scale="0.001 0.001 0.001"/>
      </geometry>
    </collision>
  </link>
  <joint name="r_index_prox" type="revolute">
    <origin xyz="-0.00919254974303696 -1.6307953948357934e-07 -0.03071362320201243" rpy="0 0 0"/>
    <axis xyz="-0.9999995872902697 -2.6872936789712476e-07 4.668360350512657e-07"/>
    <parent link="r_hand_index_1"/>
    <child link="r_hand_index_2"/>
    <limit effort="50000" lower="0.0" upper="2.792526803190927" velocity="120.0"/>
    <dynamics damping="2.0" friction="0.0"/>
  </joint>
  <link name="r_hand_index_3">
    <inertial>
      <origin xyz="4.527854646488999e-05 0.0015998591566379061 -0.003590752919953033" rpy="0.20567444929844825 -0.20467244819585653 -1.8717733650332327"/>
      <mass value="0.00912524"/>
      <inertia ixx="0.01" ixy="-1.86597e-07" ixz="-7.96957e-07" iyy="0.01" iyz="-6.51325e-07" izz="0.01"/>
    </inertial>
    <visual>
      <origin xyz="-0.019821401942974836 -0.1971661787747334 0.35469663065976104" rpy="0.20567444929844825 -0.20467244819585653 -1.8717733650332327"/>
      <geometry>
        <mesh filename="package://ergoCub/meshes/simmechanics/sim_ecub_r_hand_index_3_prt.stl" scale="0.001 0.001 0.001"/>
      </geometry>
      <material name="blue">
        <color rgba="0 0 1 1"/>
      </material>
    </visual>
    <collision>
      <origin xyz="-0.019821401942974836 -0.1971661787747334 0.35469663065976104" rpy="0.20567444929844825 -0.20467244819585653 -1.8717733650332327"/>
      <geometry>
        <mesh filename="package://ergoCub/meshes/simmechanics/sim_ecub_r_hand_index_3_prt.stl" scale="0.001 0.001 0.001"/>
      </geometry>
    </collision>
  </link>
  <joint name="r_index_dist" type="revolute">
    <origin xyz="0 -0.0014998229561488108 -0.030000484918389303" rpy="0 0 0"/>
    <axis xyz="-0.9999995872902697 -2.6872936789712476e-07 4.668360350512657e-07"/>
    <parent link="r_hand_index_2"/>
    <child link="r_hand_index_3"/>
    <limit effort="50000" lower="0.0" upper="2.792526803190927" velocity="120.0"/>
    <dynamics damping="2.0" friction="0.0"/>
  </joint>
  <link name="r_hand_index_skin_0"/>
  <joint name="r_hand_index_skin_0_fixed_joint" type="fixed">
    <origin xyz="6.083293345379714e-07 -0.0024337142786424737 -0.02140564618132018" rpy="-1.358973927973795e-06 1.2224885677301185 -1.5707970308820571"/>
    <parent link="r_hand_index_3"/>
    <child link="r_hand_index_skin_0"/>
    <dynamics damping="0.1"/>
  </joint>
  <link name="r_hand_index_skin_1"/>
  <joint name="r_hand_index_skin_1_fixed_joint" type="fixed">
    <origin xyz="0.0033010071874996078 -0.0031310503039992388 -0.023280686406158713" rpy="-1.004508784930116e-06 1.2201097511639787 -1.5707973956436345"/>
    <parent link="r_hand_index_3"/>
    <child link="r_hand_index_skin_1"/>
    <dynamics damping="0.1"/>
  </joint>
  <link name="r_hand_index_skin_2"/>
  <joint name="r_hand_index_skin_2_fixed_joint" type="fixed">
    <origin xyz="9.879565030165849e-07 -0.003758522823116728 -0.025192849922389737" rpy="-2.0192589424348972e-07 1.3057399175861366 -1.5707961736993847"/>
    <parent link="r_hand_index_3"/>
    <child link="r_hand_index_skin_2"/>
    <dynamics damping="0.1"/>
  </joint>
  <link name="r_hand_index_skin_3"/>
  <joint name="r_hand_index_skin_3_fixed_joint" type="fixed">
    <origin xyz="0.0033009199416053556 -0.0040814756407019925 -0.027766769962195237" rpy="-3.141590806265971 1.5047757593824544 1.570798933120569"/>
    <parent link="r_hand_index_3"/>
    <child link="r_hand_index_skin_3"/>
    <dynamics damping="0.1"/>
  </joint>
  <link name="r_hand_index_skin_4"/>
  <joint name="r_hand_index_skin_4_fixed_joint" type="fixed">
    <origin xyz="0.005930100741661552 -0.001192495473541999 -0.027999567974154982" rpy="3.1415912221673423 1.2994438865660232 2.777154326754342"/>
    <parent link="r_hand_index_3"/>
    <child link="r_hand_index_skin_4"/>
    <dynamics damping="0.1"/>
  </joint>
  <link name="r_hand_index_skin_5"/>
  <joint name="r_hand_index_skin_5_fixed_joint" type="fixed">
    <origin xyz="8.852545381604626e-07 -0.0034767433706533735 -0.029835165220775006" rpy="-3.1415916993735475 1.0862258770767357 1.5707970353407095"/>
    <parent link="r_hand_index_3"/>
    <child link="r_hand_index_skin_5"/>
    <dynamics damping="0.1"/>
  </joint>
  <link name="r_hand_index_skin_6"/>
  <joint name="r_hand_index_skin_6_fixed_joint" type="fixed">
    <origin xyz="0.003300138880263745 -0.001824777399458355 -0.03177155540437698" rpy="-3.1415926400948937 0.7785356574796939 2.532385471012728"/>
    <parent link="r_hand_index_3"/>
    <child link="r_hand_index_skin_6"/>
    <dynamics damping="0.1"/>
  </joint>
  <link name="r_hand_index_skin_7"/>
  <joint name="r_hand_index_skin_7_fixed_joint" type="fixed">
    <origin xyz="9.888131538363099e-07 -0.0002723135923835829 -0.03327170938394436" rpy="-3.1415924489774776 0.6184188472429561 1.5713175931002388"/>
    <parent link="r_hand_index_3"/>
    <child link="r_hand_index_skin_7"/>
    <dynamics damping="0.1"/>
  </joint>
  <link name="r_hand_index_skin_8"/>
  <joint name="r_hand_index_skin_8_fixed_joint" type="fixed">
    <origin xyz="-0.003298999678425174 -0.0018242465421608456 -0.031771593030176515" rpy="-3.1415920569068843 0.7785360318433138 0.6092077273521872"/>
    <parent link="r_hand_index_3"/>
    <child link="r_hand_index_skin_8"/>
    <dynamics damping="0.1"/>
  </joint>
  <link name="r_hand_index_skin_9"/>
  <joint name="r_hand_index_skin_9_fixed_joint" type="fixed">
    <origin xyz="-0.0059286269158415825 -0.0011924268560412343 -0.028000151465407297" rpy="3.1415920007985783 1.2994444690524727 0.3644366437810966"/>
    <parent link="r_hand_index_3"/>
    <child link="r_hand_index_skin_9"/>
    <dynamics damping="0.1"/>
  </joint>
  <link name="r_hand_index_skin_10"/>
  <joint name="r_hand_index_skin_10_fixed_joint" type="fixed">
    <origin xyz="-0.0032994561064087977 -0.004081629333914094 -0.027766804306264936" rpy="-3.141590806265971 1.5047757593824544 1.570798933120569"/>
    <parent link="r_hand_index_3"/>
    <child link="r_hand_index_skin_10"/>
    <dynamics damping="0.1"/>
  </joint>
  <link name="r_hand_index_skin_11"/>
  <joint name="r_hand_index_skin_11_fixed_joint" type="fixed">
    <origin xyz="-0.0032993688605145247 -0.003131203997211396 -0.023280720750228412" rpy="-1.004508784930116e-06 1.2201097511639787 -1.5707973956436345"/>
    <parent link="r_hand_index_3"/>
    <child link="r_hand_index_skin_11"/>
    <dynamics damping="0.1"/>
  </joint>
  <link name="l_shoulder_1">
    <inertial>
      <origin xyz="0.0001482808176272235 0.06782958024729405 0.0005034880907422434" rpy="0.12008501986317731 0.2297882840735942 1.8533146530335884"/>
      <mass value="0.791376"/>
      <inertia ixx="0.01" ixy="0.000204976" ixz="-0.000194491" iyy="0.01" iyz="5.01784e-05" izz="0.01"/>
    </inertial>
    <visual>
      <origin xyz="0.021415060671471992 -0.10641309448782241 -0.16803578343142547" rpy="0.12008501986317731 0.2297882840735942 1.8533146530335884"/>
      <geometry>
        <mesh filename="package://ergoCub/meshes/simmechanics/sim_ecub_l_shoulder_1_prt.stl" scale="0.001 0.001 0.001"/>
      </geometry>
      <material name="l_shoulder_1_color">
        <color rgba="0.9 0.9 0.9 1"/>
      </material>
    </visual>
    <collision>
      <origin xyz="0.021415060671471992 -0.10641309448782241 -0.16803578343142547" rpy="0.12008501986317731 0.2297882840735942 1.8533146530335884"/>
      <geometry>
        <mesh filename="package://ergoCub/meshes/simmechanics/sim_ecub_l_shoulder_1_prt.stl" scale="0.001 0.001 0.001"/>
      </geometry>
    </collision>
  </link>
  <joint name="l_shoulder_pitch" type="revolute">
    <origin xyz="-0.013518699987774399 0.06704760000246503 0.12352000000000002" rpy="0.2536122437269179 -0.05203123024743728 -0.27527871815172983"/>
    <axis xyz="1.4958988243767013e-07 0.9999999783534517 2.7220291587415346e-07"/>
    <parent link="chest"/>
    <child link="l_shoulder_1"/>
    <limit effort="50000" lower="-3.0543261909900767" upper="0.3490658503988659" velocity="120.0"/>
    <dynamics damping="2.0" friction="0.0"/>
  </joint>
  <link name="l_shoulder_2">
    <inertial>
      <origin xyz="0.007519092064307464 0.0001880431797245119 -0.020486312998951983" rpy="0.12008501986317731 0.2297882840735942 1.8533146530335884"/>
      <mass value="0.440933"/>
      <inertia ixx="0.01" ixy="-5.1576e-05" ixz="6.56909e-05" iyy="0.01" iyz="7.97836e-05" izz="0.01"/>
    </inertial>
    <visual>
      <origin xyz="0.01642850313247387 -0.19975933535232593 -0.1680239607265381" rpy="0.12008501986317731 0.2297882840735942 1.8533146530335884"/>
      <geometry>
        <mesh filename="package://ergoCub/meshes/simmechanics/sim_ecub_l_shoulder_2_prt.stl" scale="0.001 0.001 0.001"/>
      </geometry>
      <material name="l_shoulder_2_color">
        <color rgba="0.9 0.9 0.9 1"/>
      </material>
    </visual>
    <collision>
      <origin xyz="0.01642850313247387 -0.19975933535232593 -0.1680239607265381" rpy="0.12008501986317731 0.2297882840735942 1.8533146530335884"/>
      <geometry>
        <mesh filename="package://ergoCub/meshes/simmechanics/sim_ecub_l_shoulder_2_prt.stl" scale="0.001 0.001 0.001"/>
      </geometry>
    </collision>
  </link>
  <joint name="l_shoulder_roll" type="revolute">
    <origin xyz="0.00500012990494483 0.09329948520836115 -4.341360000936767e-07" rpy="0 0 0"/>
    <axis xyz="0.9999998262416893 3.56920377206707e-07 2.721582535170075e-07"/>
    <parent link="l_shoulder_1"/>
    <child link="l_shoulder_2"/>
    <limit effort="50000" lower="0.20943951023931956" upper="2.8448866807507573" velocity="120.0"/>
    <dynamics damping="2.0" friction="0.0"/>
  </joint>
  <link name="l_shoulder_3">
    <inertial>
      <origin xyz="8.299949315322686e-05 3.103648112065538e-05 -0.007966353749424879" rpy="0.12008501986317731 0.2297882840735942 1.8533146530335884"/>
      <mass value="0.271466"/>
      <inertia ixx="0.01" ixy="-1.10686e-06" ixz="-1.1157e-05" iyy="0.01" iyz="5.80189e-06" izz="0.01"/>
    </inertial>
    <visual>
      <origin xyz="0.020778568919260366 -0.1997595789508428 -0.11372408057794763" rpy="0.12008501986317731 0.2297882840735942 1.8533146530335884"/>
      <geometry>
        <mesh filename="package://ergoCub/meshes/simmechanics/sim_ecub_l_shoulder_3_prt.stl" scale="0.001 0.001 0.001"/>
      </geometry>
      <material name="l_shoulder_3_color">
        <color rgba="0.9 0.9 0.9 1"/>
      </material>
    </visual>
    <collision>
      <origin xyz="0.020778568919260366 -0.1997595789508428 -0.11372408057794763" rpy="0.12008501986317731 0.2297882840735942 1.8533146530335884"/>
      <geometry>
        <mesh filename="package://ergoCub/meshes/simmechanics/sim_ecub_l_shoulder_3_prt.stl" scale="0.001 0.001 0.001"/>
      </geometry>
    </collision>
  </link>
  <joint name="l_arm_ft_sensor" type="fixed">
    <origin xyz="-0.004350065786786487 2.435985168580679e-07 -0.054299880148590496" rpy="0 0 0"/>
    <parent link="l_shoulder_2"/>
    <child link="l_shoulder_3"/>
    <dynamics damping="0.1"/>
  </joint>
  <link name="l_upperarm">
    <inertial>
      <origin xyz="0.00013045033120965763 0.0022533114588239866 -0.05006471572755227" rpy="0.12008501986317731 0.2297882840735942 1.8533146530335884"/>
      <mass value="1.77085"/>
      <inertia ixx="0.00337743" ixy="7.38594e-05" ixz="0.000509552" iyy="0.0033716" iyz="-0.00025332" izz="0.00175055"/>
    </inertial>
    <visual>
      <origin xyz="0.020778592897575728 -0.19975967103727527 -0.09122385499794652" rpy="0.12008501986317731 0.2297882840735942 1.8533146530335884"/>
      <geometry>
        <mesh filename="package://ergoCub/meshes/simmechanics/sim_ecub_l_upperarm_prt.stl" scale="0.001 0.001 0.001"/>
      </geometry>
      <material name="yellow">
        <color rgba="1 1 0 1"/>
      </material>
    </visual>
    <collision>
      <origin xyz="0.020778592897575728 -0.19975967103727527 -0.09122385499794652" rpy="0.12008501986317731 0.2297882840735942 1.8533146530335884"/>
      <geometry>
        <mesh filename="package://ergoCub/meshes/simmechanics/sim_ecub_l_upperarm_prt.stl" scale="0.001 0.001 0.001"/>
      </geometry>
    </collision>
  </link>
  <joint name="l_shoulder_yaw" type="revolute">
    <origin xyz="0 0 -0.022500225580001282" rpy="0 0 0"/>
    <axis xyz="3.936910710766739e-07 -1.8507626386998766e-07 -0.9999995705743131"/>
    <parent link="l_shoulder_3"/>
    <child link="l_upperarm"/>
    <limit effort="50000" lower="-0.8726646259971648" upper="1.3962634015954636" velocity="120.0"/>
    <dynamics damping="2.0" friction="0.0"/>
  </joint>
  <link name="l_forearm">
    <inertial>
      <origin xyz="-0.01855325167731582 0.002312010233018774 -0.08919372867102593" rpy="0.12008501986317731 0.2297882840735942 1.8533146530335884"/>
      <mass value="1.46045"/>
      <inertia ixx="0.00383607" ixy="3.91822e-05" ixz="0.000544225" iyy="0.00387427" iyz="-0.00023171" izz="0.00165694"/>
    </inertial>
    <visual>
      <origin xyz="0.010778478112345273 -0.19825960681678675 0.03247577032026795" rpy="0.12008501986317731 0.2297882840735942 1.8533146530335884"/>
      <geometry>
        <mesh filename="package://ergoCub/meshes/simmechanics/sim_ecub_l_forearm_prt.stl" scale="0.001 0.001 0.001"/>
      </geometry>
      <material name="l_forearm_color">
        <color rgba="0.3 0.3 0.3 1"/>
      </material>
    </visual>
    <collision>
      <origin xyz="0.010778478112345273 -0.19825960681678675 0.03247577032026795" rpy="0.12008501986317731 0.2297882840735942 1.8533146530335884"/>
      <geometry>
        <mesh filename="package://ergoCub/meshes/simmechanics/sim_ecub_l_forearm_prt.stl" scale="0.001 0.001 0.001"/>
      </geometry>
    </collision>
  </link>
  <joint name="l_elbow" type="revolute">
    <origin xyz="0.01000011478523053 -0.001500064220488484 -0.12369962531821438" rpy="0 0 0"/>
    <axis xyz="-1.4958988243767013e-07 -0.9999999783534517 -2.7220291587415346e-07"/>
    <parent link="l_upperarm"/>
    <child link="l_forearm"/>
    <limit effort="50000" lower="-0.05235987755982989" upper="1.3089969389957472" velocity="120.0"/>
    <dynamics damping="2.0" friction="0.0"/>
  </joint>
  <link name="l_wrist_1">
    <inertial>
      <origin xyz="-0.00040255429275968743 0.0010581959203486424 0.019141145908370766" rpy="0.12008501986317731 0.2297882840735942 1.8533146530335884"/>
      <mass value="0.0565425"/>
      <inertia ixx="0.01" ixy="-4.7189e-07" ixz="1.58291e-06" iyy="0.01" iyz="-4.05611e-07" izz="0.01"/>
    </inertial>
    <visual>
      <origin xyz="0.02577856895260016 -0.20026030769211345 0.22682584341786544" rpy="0.12008501986317731 0.2297882840735942 1.8533146530335884"/>
      <geometry>
        <mesh filename="package://ergoCub/meshes/simmechanics/sim_ecub_l_wrist_1_prt.stl" scale="0.001 0.001 0.001"/>
      </geometry>
      <material name="l_wrist_1_color">
        <color rgba="0.9 0.9 0.9 1"/>
      </material>
    </visual>
    <collision>
      <origin xyz="0.02577856895260016 -0.20026030769211345 0.22682584341786544" rpy="0.12008501986317731 0.2297882840735942 1.8533146530335884"/>
      <geometry>
        <mesh filename="package://ergoCub/meshes/simmechanics/sim_ecub_l_wrist_1_prt.stl" scale="0.001 0.001 0.001"/>
      </geometry>
    </collision>
  </link>
  <joint name="l_wrist_yaw" type="revolute">
    <origin xyz="-0.015000090840254894 0.0020007008753266664 -0.19435007309759766" rpy="0 0 0"/>
    <axis xyz="3.936910710766739e-07 -1.8507626386998766e-07 -0.9999995705743131"/>
    <parent link="l_forearm"/>
    <child link="l_wrist_1"/>
    <limit effort="50000" lower="-1.6057029118347832" upper="1.6057029118347832" velocity="120.0"/>
    <dynamics damping="2.0" friction="0.0"/>
  </joint>
  <link name="l_wrist_2">
    <inertial>
      <origin xyz="0.00010461925064074451 0.0023352858719152547 -0.005394190274622179" rpy="0.12008501986317731 0.2297882840735942 1.8533146530335884"/>
      <mass value="0.00945549"/>
      <inertia ixx="0.01" ixy="-7.01216e-08" ixz="-4.03309e-08" iyy="0.01" iyz="3.49146e-08" izz="0.01"/>
    </inertial>
    <visual>
      <origin xyz="0.02577856895260023 -0.20026030769211345 0.22682584341786535" rpy="0.12008501986317731 0.2297882840735942 1.8533146530335884"/>
      <geometry>
        <mesh filename="package://ergoCub/meshes/simmechanics/sim_ecub_l_wrist_2_prt.stl" scale="0.001 0.001 0.001"/>
      </geometry>
      <material name="pink">
        <color rgba="1 0 1 1"/>
      </material>
    </visual>
    <collision>
      <origin xyz="0.02577856895260023 -0.20026030769211345 0.22682584341786535" rpy="0.12008501986317731 0.2297882840735942 1.8533146530335884"/>
      <geometry>
        <mesh filename="package://ergoCub/meshes/simmechanics/sim_ecub_l_wrist_2_prt.stl" scale="0.001 0.001 0.001"/>
      </geometry>
    </collision>
  </link>
  <joint name="l_wrist_roll" type="revolute">
    <origin xyz="0 0 0" rpy="0 0 0"/>
    <axis xyz="-0.9999998262416893 -3.56920377206707e-07 -2.721582535170075e-07"/>
    <parent link="l_wrist_1"/>
    <child link="l_wrist_2"/>
    <limit effort="50000" lower="-1.0821041362364843" upper="0.9075712110370514" velocity="120.0"/>
    <dynamics damping="2.0" friction="0.0"/>
  </joint>
  <link name="l_hand_palm">
    <inertial>
      <origin xyz="-0.0034640807528164147 0.0026595088100320463 -0.059159070432414085" rpy="0.12008501986317731 0.2297882840735942 1.8533146530335884"/>
      <mass value="0.193024"/>
      <inertia ixx="0.01" ixy="-1.66069e-05" ixz="2.22683e-05" iyy="0.01" iyz="6.67926e-06" izz="0.01"/>
    </inertial>
    <visual>
      <origin xyz="0.025778568952600042 -0.2002603076921135 0.22682584341786538" rpy="0.12008501986317731 0.2297882840735942 1.8533146530335884"/>
      <geometry>
        <mesh filename="package://ergoCub/meshes/simmechanics/sim_ecub_l_hand_palm_prt.stl" scale="0.001 0.001 0.001"/>
      </geometry>
      <material name="cyan">
        <color rgba="0 1 1 1"/>
      </material>
    </visual>
    <collision>
      <origin xyz="0.025778568952600042 -0.2002603076921135 0.22682584341786538" rpy="0.12008501986317731 0.2297882840735942 1.8533146530335884"/>
      <geometry>
        <mesh filename="package://ergoCub/meshes/simmechanics/sim_ecub_l_hand_palm_prt.stl" scale="0.001 0.001 0.001"/>
      </geometry>
    </collision>
  </link>
  <joint name="l_wrist_pitch" type="revolute">
    <origin xyz="0 0 0" rpy="0 0 0"/>
    <axis xyz="-1.4958988243767013e-07 -0.9999999783534517 -2.7220291587415346e-07"/>
    <parent link="l_wrist_2"/>
    <child link="l_hand_palm"/>
    <limit effort="50000" lower="-0.5585053606381855" upper="0.5585053606381855" velocity="120.0"/>
    <dynamics damping="2.0" friction="0.0"/>
  </joint>
  <link name="l_hand_ring_1">
    <inertial>
      <origin xyz="0.00014280339169172197 0.0036426704125520626 -0.014331537616628587" rpy="0.03293841693450851 0.2510502277214382 1.8063707999903837"/>
      <mass value="0.00345703"/>
      <inertia ixx="0.01" ixy="-2.00998e-09" ixz="5.85772e-08" iyy="0.01" iyz="-2.27607e-09" izz="0.01"/>
    </inertial>
    <visual>
      <origin xyz="0.007549845505752852 -0.19942057587455292 0.32662722703398567" rpy="0.03293841693450851 0.2510502277214382 1.8063707999903837"/>
      <geometry>
        <mesh filename="package://ergoCub/meshes/simmechanics/sim_ecub_l_hand_ring_1_prt.stl" scale="0.001 0.001 0.001"/>
      </geometry>
      <material name="green">
        <color rgba="0 1 0 1"/>
      </material>
    </visual>
    <collision>
      <origin xyz="0.007549845505752852 -0.19942057587455292 0.32662722703398567" rpy="0.03293841693450851 0.2510502277214382 1.8063707999903837"/>
      <geometry>
        <mesh filename="package://ergoCub/meshes/simmechanics/sim_ecub_l_hand_ring_1_prt.stl" scale="0.001 0.001 0.001"/>
      </geometry>
    </collision>
  </link>
  <joint name="l_ring_prox" type="revolute">
    <origin xyz="-0.015417865717831492 -0.0018501027039076468 -0.09790043518642755" rpy="0 0.08726650590388031 0.026179823381597748"/>
    <axis xyz="-1.0000005135466863 -1.979209419246744e-07 -4.060128685548503e-07"/>
    <parent link="l_hand_palm"/>
    <child link="l_hand_ring_1"/>
    <limit effort="50000" lower="0.0" upper="2.792526803190927" velocity="120.0"/>
    <dynamics damping="2.0" friction="0.0"/>
  </joint>
  <link name="l_hand_ring_2">
    <inertial>
      <origin xyz="5.158639613811293e-05 0.0015996223776358065 -0.003590597740307344" rpy="0.03293841693450851 0.2510502277214382 1.8063707999903837"/>
      <mass value="0.00912524"/>
      <inertia ixx="0.01" ixy="4.76252e-08" ixz="9.4436e-07" iyy="0.01" iyz="-1.39679e-07" izz="0.01"/>
    </inertial>
    <visual>
      <origin xyz="0.007549803385393823 -0.1979206552730235 0.35662779114530463" rpy="0.03293841693450851 0.2510502277214382 1.8063707999903837"/>
      <geometry>
        <mesh filename="package://ergoCub/meshes/simmechanics/sim_ecub_l_hand_ring_2_prt.stl" scale="0.001 0.001 0.001"/>
      </geometry>
      <material name="white">
        <color rgba="1 1 1 1"/>
      </material>
    </visual>
    <collision>
      <origin xyz="0.007549803385393823 -0.1979206552730235 0.35662779114530463" rpy="0.03293841693450851 0.2510502277214382 1.8063707999903837"/>
      <geometry>
        <mesh filename="package://ergoCub/meshes/simmechanics/sim_ecub_l_hand_ring_2_prt.stl" scale="0.001 0.001 0.001"/>
      </geometry>
    </collision>
  </link>
  <joint name="l_ring_dist" type="revolute">
    <origin xyz="0 -0.0014999206015293143 -0.03000056411131863" rpy="0 0 0"/>
    <axis xyz="-1.0000005135466863 -1.979209419246744e-07 -4.060128685548503e-07"/>
    <parent link="l_hand_ring_1"/>
    <child link="l_hand_ring_2"/>
    <limit effort="50000" lower="0.0" upper="2.792526803190927" velocity="120.0"/>
    <dynamics damping="2.0" friction="0.0"/>
  </joint>
  <link name="l_hand_ring_skin_0"/>
  <joint name="l_hand_ring_skin_0_fixed_joint" type="fixed">
    <origin xyz="0 -0.002434109766516368 -0.021405903344744404" rpy="3.19241308601029e-07 1.2224879756285634 -1.5707957505342052"/>
    <parent link="l_hand_ring_2"/>
    <child link="l_hand_ring_skin_0"/>
    <dynamics damping="0.1"/>
  </joint>
  <link name="l_hand_ring_skin_1"/>
  <joint name="l_hand_ring_skin_1_fixed_joint" type="fixed">
    <origin xyz="0.003299959717504228 -0.0031312149423083635 -0.02328043103333599" rpy="7.841409816247398e-07 1.220109279873348 -1.5707953766916674"/>
    <parent link="l_hand_ring_2"/>
    <child link="l_hand_ring_skin_1"/>
    <dynamics damping="0.1"/>
  </joint>
  <link name="l_hand_ring_skin_2"/>
  <joint name="l_hand_ring_skin_2_fixed_joint" type="fixed">
    <origin xyz="0 -0.003758755164085026 -0.02519260657118344" rpy="2.109983659924688e-06 1.3057391422971405 -1.57079420774816"/>
    <parent link="l_hand_ring_2"/>
    <child link="l_hand_ring_skin_2"/>
    <dynamics damping="0.1"/>
  </joint>
  <link name="l_hand_ring_skin_3"/>
  <joint name="l_hand_ring_skin_3_fixed_joint" type="fixed">
    <origin xyz="0.0032999611388028777 -0.004081908765223963 -0.02776658723492642" rpy="3.141583892131502 1.5047765106577695 1.5707878943439342"/>
    <parent link="l_hand_ring_2"/>
    <child link="l_hand_ring_skin_3"/>
    <dynamics damping="0.1"/>
  </joint>
  <link name="l_hand_ring_skin_4"/>
  <joint name="l_hand_ring_skin_4_fixed_joint" type="fixed">
    <origin xyz="0.005929559072218151 -0.0011924106023348813 -0.02799965564814172" rpy="3.1415923272373556 1.299444799530583 2.7771553646234826"/>
    <parent link="l_hand_ring_2"/>
    <child link="l_hand_ring_skin_4"/>
    <dynamics damping="0.1"/>
  </joint>
  <link name="l_hand_ring_skin_5"/>
  <joint name="l_hand_ring_skin_5_fixed_joint" type="fixed">
    <origin xyz="0 -0.0034766110824936136 -0.02983485885572207" rpy="3.141592267163769 1.086225807890324 1.570796144313782"/>
    <parent link="l_hand_ring_2"/>
    <child link="l_hand_ring_skin_5"/>
    <dynamics damping="0.1"/>
  </joint>
  <link name="l_hand_ring_skin_6"/>
  <joint name="l_hand_ring_skin_6_fixed_joint" type="fixed">
    <origin xyz="0.0033000024742935834 -0.0018246687466073053 -0.03177155146156402" rpy="3.1415925874639985 0.7785363357981874 2.5323859043537085"/>
    <parent link="l_hand_ring_2"/>
    <child link="l_hand_ring_skin_6"/>
    <dynamics damping="0.1"/>
  </joint>
  <link name="l_hand_ring_skin_7"/>
  <joint name="l_hand_ring_skin_7_fixed_joint" type="fixed">
    <origin xyz="0 -0.000273182602237132 -0.03327141530303279" rpy="3.141592083365392 0.6184190542087526 1.5713170178340956"/>
    <parent link="l_hand_ring_2"/>
    <child link="l_hand_ring_skin_7"/>
    <dynamics damping="0.1"/>
  </joint>
  <link name="l_hand_ring_skin_8"/>
  <joint name="l_hand_ring_skin_8_fixed_joint" type="fixed">
    <origin xyz="-0.003299926555867876 -0.001824843406352472 -0.03177163099792274" rpy="-3.141592630967883 0.7785355069422046 0.6092077934143093"/>
    <parent link="l_hand_ring_2"/>
    <child link="l_hand_ring_skin_8"/>
    <dynamics damping="0.1"/>
  </joint>
  <link name="l_hand_ring_skin_9"/>
  <joint name="l_hand_ring_skin_9_fixed_joint" type="fixed">
    <origin xyz="-0.005929446120504852 -0.0011926740085302368 -0.02800007942441246" rpy="-3.1415921627311505 1.2994436529688218 0.36443765521426325"/>
    <parent link="l_hand_ring_2"/>
    <child link="l_hand_ring_skin_9"/>
    <dynamics damping="0.1"/>
  </joint>
  <link name="l_hand_ring_skin_10"/>
  <joint name="l_hand_ring_skin_10_fixed_joint" type="fixed">
    <origin xyz="-0.0032999678913585937 -0.00408208342496913 -0.027766666771285198" rpy="3.141583892131502 1.5047765106577695 1.5707878943439342"/>
    <parent link="l_hand_ring_2"/>
    <child link="l_hand_ring_skin_10"/>
    <dynamics damping="0.1"/>
  </joint>
  <link name="l_hand_ring_skin_11"/>
  <joint name="l_hand_ring_skin_11_fixed_joint" type="fixed">
    <origin xyz="-0.003299969312657214 -0.003131389602053558 -0.023280510569694823" rpy="7.841409816247398e-07 1.220109279873348 -1.5707953766916674"/>
    <parent link="l_hand_ring_2"/>
    <child link="l_hand_ring_skin_11"/>
    <dynamics damping="0.1"/>
  </joint>
  <link name="l_hand_index_1">
    <inertial>
      <origin xyz="0.008775274459774315 0.004269452512144861 -0.017750570367235263" rpy="0.20567444929844825 0.20467244819585653 1.8717733650332327"/>
      <mass value="0.0183891"/>
      <inertia ixx="0.01" ixy="9.87525e-08" ixz="6.73219e-08" iyy="0.01" iyz="-4.87291e-07" izz="0.01"/>
    </inertial>
    <visual>
      <origin xyz="0.02904319388181435 -0.19871027157305793 0.2940034586718241" rpy="0.20567444929844825 0.20467244819585653 1.8717733650332327"/>
      <geometry>
        <mesh filename="package://ergoCub/meshes/simmechanics/sim_ecub_l_hand_index_1_prt.stl" scale="0.001 0.001 0.001"/>
      </geometry>
      <material name="dblue">
        <color rgba="0 0 0.8 1"/>
      </material>
    </visual>
    <collision>
      <origin xyz="0.02904319388181435 -0.19871027157305793 0.2940034586718241" rpy="0.20567444929844825 0.20467244819585653 1.8717733650332327"/>
      <geometry>
        <mesh filename="package://ergoCub/meshes/simmechanics/sim_ecub_l_hand_index_1_prt.stl" scale="0.001 0.001 0.001"/>
      </geometry>
    </collision>
  </link>
  <joint name="l_index_add" type="revolute">
    <origin xyz="0.022469969224748403 -0.001550029846802109 -0.06859012009285947" rpy="0 -0.08726657030232389 2.273729335436677e-07"/>
    <axis xyz="-3.992524267790176e-07 -0.999999978353397 -2.1441989261905547e-07"/>
    <parent link="l_hand_palm"/>
    <child link="l_hand_index_1"/>
    <limit effort="50000" lower="0.0" upper="0.3490658503988659" velocity="120.0"/>
    <dynamics damping="2.0" friction="0.0"/>
  </joint>
  <link name="l_hand_index_2">
    <inertial>
      <origin xyz="0.00014299124504029564 0.003642127156679803 -0.014330898644830947" rpy="0.20567444929844825 0.20467244819585653 1.8717733650332327"/>
      <mass value="0.00345703"/>
      <inertia ixx="0.01" ixy="5.70823e-09" ixz="4.71528e-08" iyy="0.01" iyz="-4.56705e-08" izz="0.01"/>
    </inertial>
    <visual>
      <origin xyz="0.019850644138777407 -0.19871010849351842 0.3247170818738366" rpy="0.20567444929844825 0.20467244819585653 1.8717733650332327"/>
      <geometry>
        <mesh filename="package://ergoCub/meshes/simmechanics/sim_ecub_l_hand_index_2_prt.stl" scale="0.001 0.001 0.001"/>
      </geometry>
      <material name="dgreen">
        <color rgba="0.1 0.8 0.1 1"/>
      </material>
    </visual>
    <collision>
      <origin xyz="0.019850644138777407 -0.19871010849351842 0.3247170818738366" rpy="0.20567444929844825 0.20467244819585653 1.8717733650332327"/>
      <geometry>
        <mesh filename="package://ergoCub/meshes/simmechanics/sim_ecub_l_hand_index_2_prt.stl" scale="0.001 0.001 0.001"/>
      </geometry>
    </collision>
  </link>
  <joint name="l_index_prox" type="revolute">
    <origin xyz="0.009192549743036973 -1.6307953948357934e-07 -0.030713623202012375" rpy="0 0 0"/>
    <axis xyz="-0.9999995872902697 2.6872936789712476e-07 -4.668360350512657e-07"/>
    <parent link="l_hand_index_1"/>
    <child link="l_hand_index_2"/>
    <limit effort="50000" lower="0.0" upper="2.792526803190927" velocity="120.0"/>
    <dynamics damping="2.0" friction="0.0"/>
  </joint>
  <link name="l_hand_index_3">
    <inertial>
      <origin xyz="5.9109449817802695e-05 0.0016001193440265127 -0.003591033160222079" rpy="0.20567444929844825 0.20467244819585653 1.8717733650332327"/>
      <mass value="0.00912524"/>
      <inertia ixx="0.01" ixy="1.8521e-07" ixz="7.98775e-07" iyy="0.01" iyz="-6.45784e-07" izz="0.01"/>
    </inertial>
    <visual>
      <origin xyz="0.019850732699259722 -0.19720947570560032 0.35471630507241264" rpy="0.20567444929844825 0.20467244819585653 1.8717733650332327"/>
      <geometry>
        <mesh filename="package://ergoCub/meshes/simmechanics/sim_ecub_l_hand_index_3_prt.stl" scale="0.001 0.001 0.001"/>
      </geometry>
      <material name="gray">
        <color rgba="0.5 0.5 0.5 1"/>
      </material>
    </visual>
    <collision>
      <origin xyz="0.019850732699259722 -0.19720947570560032 0.35471630507241264" rpy="0.20567444929844825 0.20467244819585653 1.8717733650332327"/>
      <geometry>
        <mesh filename="package://ergoCub/meshes/simmechanics/sim_ecub_l_hand_index_3_prt.stl" scale="0.001 0.001 0.001"/>
      </geometry>
    </collision>
  </link>
  <joint name="l_index_dist" type="revolute">
    <origin xyz="0 -0.0015006327879180659 -0.02999922319857601" rpy="0 0 0"/>
    <axis xyz="-0.9999995872902697 2.6872936789712476e-07 -4.668360350512657e-07"/>
    <parent link="l_hand_index_2"/>
    <child link="l_hand_index_3"/>
    <limit effort="50000" lower="0.0" upper="2.792526803190927" velocity="120.0"/>
    <dynamics damping="2.0" friction="0.0"/>
  </joint>
  <link name="l_hand_index_skin_0"/>
  <joint name="l_hand_index_skin_0_fixed_joint" type="fixed">
    <origin xyz="2.02830541008725e-07 -0.0024337142787178856 -0.0214068046370407" rpy="1.3589739287870087e-06 1.222488567730119 -1.5707956227077366"/>
    <parent link="l_hand_index_3"/>
    <child link="l_hand_index_skin_0"/>
    <dynamics damping="0.1"/>
  </joint>
  <link name="l_hand_index_skin_1"/>
  <joint name="l_hand_index_skin_1_fixed_joint" type="fixed">
    <origin xyz="0.00330018002039012 -0.0031312039972868355 -0.023281879205948874" rpy="1.0045087854148686e-06 1.2201097511639785 -1.5707952579461582"/>
    <parent link="l_hand_index_3"/>
    <child link="l_hand_index_skin_1"/>
    <dynamics damping="0.1"/>
  </joint>
  <link name="l_hand_index_skin_2"/>
  <joint name="l_hand_index_skin_2_fixed_joint" type="fixed">
    <origin xyz="0 -0.0037582722604465324 -0.025193049887115737" rpy="2.019258946672971e-07 1.305739917586136 -1.5707964798904088"/>
    <parent link="l_hand_index_3"/>
    <child link="l_hand_index_skin_2"/>
    <dynamics damping="0.1"/>
  </joint>
  <link name="l_hand_index_skin_3"/>
  <joint name="l_hand_index_skin_3_fixed_joint" type="fixed">
    <origin xyz="0.003300267266284379 -0.004081629333989534 -0.027767962761985454" rpy="3.1415923305252225 1.5047762567210512 1.5707960116499358"/>
    <parent link="l_hand_index_3"/>
    <child link="l_hand_index_skin_3"/>
    <dynamics damping="0.1"/>
  </joint>
  <link name="l_hand_index_skin_4"/>
  <joint name="l_hand_index_skin_4_fixed_joint" type="fixed">
    <origin xyz="0.005929574139393212 -0.0011921762933711222 -0.02800035143013324" rpy="-3.141592000798577 1.2994444690524731 2.7771560098086976"/>
    <parent link="l_hand_index_3"/>
    <child link="l_hand_index_skin_4"/>
    <dynamics damping="0.1"/>
  </joint>
  <link name="l_hand_index_skin_5"/>
  <joint name="l_hand_index_skin_5_fixed_joint" type="fixed">
    <origin xyz="0 -0.0034767433707287576 -0.029836323676495524" rpy="3.1415916993735475 1.0862258770767357 1.570795618249084"/>
    <parent link="l_hand_index_3"/>
    <child link="l_hand_index_skin_5"/>
    <dynamics damping="0.1"/>
  </joint>
  <link name="l_hand_index_skin_6"/>
  <joint name="l_hand_index_skin_6_fixed_joint" type="fixed">
    <origin xyz="0.0032998108383007554 -0.0018242465422362297 -0.03177275148589709" rpy="3.1415920569068843 0.7785360318433139 2.532384926237606"/>
    <parent link="l_hand_index_3"/>
    <child link="l_hand_index_skin_6"/>
    <dynamics damping="0.1"/>
  </joint>
  <link name="l_hand_index_skin_7"/>
  <joint name="l_hand_index_skin_7_fixed_joint" type="fixed">
    <origin xyz="-1.7765327827573563e-07 -0.000272313592458967 -0.03327286783966488" rpy="3.141592488071993 0.6184189897566703 1.5713167119394844"/>
    <parent link="l_hand_index_3"/>
    <child link="l_hand_index_skin_7"/>
    <dynamics damping="0.1"/>
  </joint>
  <link name="l_hand_index_skin_8"/>
  <joint name="l_hand_index_skin_8_fixed_joint" type="fixed">
    <origin xyz="-0.003299617986161782 -0.001823842286354016 -0.03177291710655328" rpy="3.1415926400948937 0.7785356574796937 0.6092071825770647"/>
    <parent link="l_hand_index_3"/>
    <child link="l_hand_index_skin_8"/>
    <dynamics damping="0.1"/>
  </joint>
  <link name="l_hand_index_skin_9"/>
  <joint name="l_hand_index_skin_9_fixed_joint" type="fixed">
    <origin xyz="-0.005929289581785957 -0.0011924954736174942 -0.0280007264298755" rpy="-3.141591222167342 1.2994438865660223 0.36443832683545135"/>
    <parent link="l_hand_index_3"/>
    <child link="l_hand_index_skin_9"/>
    <dynamics damping="0.1"/>
  </joint>
  <link name="l_hand_index_skin_10"/>
  <joint name="l_hand_index_skin_10_fixed_joint" type="fixed">
    <origin xyz="-0.0033001087817297603 -0.004081475640777432 -0.027767928417915755" rpy="3.1415923305252225 1.5047762567210512 1.5707960116499358"/>
    <parent link="l_hand_index_3"/>
    <child link="l_hand_index_skin_10"/>
    <dynamics damping="0.1"/>
  </joint>
  <link name="l_hand_index_skin_11"/>
  <joint name="l_hand_index_skin_11_fixed_joint" type="fixed">
    <origin xyz="-0.003300196027624047 -0.0031310503040746507 -0.02328184486187923" rpy="1.0045087854148686e-06 1.2201097511639785 -1.5707952579461582"/>
    <parent link="l_hand_index_3"/>
    <child link="l_hand_index_skin_11"/>
    <dynamics damping="0.1"/>
  </joint>
  <link name="l_hand_middle_1">
    <inertial>
      <origin xyz="0.0001426788707961056 0.003642823793353789 -0.014331376909090254" rpy="0.12008501986317731 0.2297882840735942 1.8533146530335884"/>
      <mass value="0.00345703"/>
      <inertia ixx="0.01" ixy="2.33291e-09" ixz="5.3584e-08" iyy="0.01" iyz="-2.42237e-08" izz="0.01"/>
    </inertial>
    <visual>
      <origin xyz="0.01617835428392994 -0.19875945050109686 0.32982571996156645" rpy="0.12008501986317731 0.2297882840735942 1.8533146530335884"/>
      <geometry>
        <mesh filename="package://ergoCub/meshes/simmechanics/sim_ecub_l_hand_middle_1_prt.stl" scale="0.001 0.001 0.001"/>
      </geometry>
      <material name="green">
        <color rgba="0 1 0 1"/>
      </material>
    </visual>
    <collision>
      <origin xyz="0.01617835428392994 -0.19875945050109686 0.32982571996156645" rpy="0.12008501986317731 0.2297882840735942 1.8533146530335884"/>
      <geometry>
        <mesh filename="package://ergoCub/meshes/simmechanics/sim_ecub_l_hand_middle_1_prt.stl" scale="0.001 0.001 0.001"/>
      </geometry>
    </collision>
  </link>
  <joint name="l_middle_prox" type="revolute">
    <origin xyz="0.009600214668670098 -0.0015008571910165858 -0.10299987654370085" rpy="0 0 0"/>
    <axis xyz="-0.9999998262416893 -3.56920377206707e-07 -2.721582535170075e-07"/>
    <parent link="l_hand_palm"/>
    <child link="l_hand_middle_1"/>
    <limit effort="50000" lower="0.0" upper="2.792526803190927" velocity="120.0"/>
    <dynamics damping="2.0" friction="0.0"/>
  </joint>
  <link name="l_hand_middle_2">
    <inertial>
      <origin xyz="5.172124499746439e-05 0.0015996341583800477 -0.003590479003163727" rpy="0.11954926259843997 0.22799029281164018 1.8531928341958708"/>
      <mass value="0.00912524"/>
      <inertia ixx="0.01" ixy="1.239e-07" ixz="8.75068e-07" iyy="0.01" iyz="-3.99253e-07" izz="0.01"/>
    </inertial>
    <visual>
      <origin xyz="0.016178446836467256 -0.19793324107587792 0.3594559877864297" rpy="0.11954926259843997 0.22799029281164018 1.8531928341958708"/>
      <geometry>
        <mesh filename="package://ergoCub/meshes/simmechanics/sim_ecub_l_hand_middle_2_prt.stl" scale="0.001 0.001 0.001"/>
      </geometry>
      <material name="black">
        <color rgba="0 0 0 1"/>
      </material>
    </visual>
    <collision>
      <origin xyz="0.016178446836467256 -0.19793324107587792 0.3594559877864297" rpy="0.11954926259843997 0.22799029281164018 1.8531928341958708"/>
      <geometry>
        <mesh filename="package://ergoCub/meshes/simmechanics/sim_ecub_l_hand_middle_2_prt.stl" scale="0.001 0.001 0.001"/>
      </geometry>
    </collision>
  </link>
  <joint name="l_middle_dist" type="revolute">
    <origin xyz="-1.3550151000546462e-07 -0.0014995238274964628 -0.03000020325318492" rpy="-0.0018721728628663644 0 2.576685250299645e-07"/>
    <axis xyz="-0.9999998262417538 -9.878318872787173e-08 -2.5044776373606137e-07"/>
    <parent link="l_hand_middle_1"/>
    <child link="l_hand_middle_2"/>
    <limit effort="50000" lower="0.0" upper="2.792526803190927" velocity="120.0"/>
    <dynamics damping="2.0" friction="0.0"/>
  </joint>
  <link name="l_hand_middle_skin_0"/>
  <joint name="l_hand_middle_skin_0_fixed_joint" type="fixed">
    <origin xyz="0 -0.0024341633880323454 -0.02140626784029226" rpy="2.8880021565356356e-07 1.2224888157071614 -1.5707959092703505"/>
    <parent link="l_hand_middle_2"/>
    <child link="l_hand_middle_skin_0"/>
    <dynamics damping="0.1"/>
  </joint>
  <link name="l_hand_middle_skin_1"/>
  <joint name="l_hand_middle_skin_1_fixed_joint" type="fixed">
    <origin xyz="0.0032999923469937895 -0.0031310595632358384 -0.023281089805274435" rpy="1.4298532751994242e-06 1.2201100060845365 -1.5707950386454854"/>
    <parent link="l_hand_middle_2"/>
    <child link="l_hand_middle_skin_1"/>
    <dynamics damping="0.1"/>
  </joint>
  <link name="l_hand_middle_skin_2"/>
  <joint name="l_hand_middle_skin_2_fixed_joint" type="fixed">
    <origin xyz="0 -0.0037584600637464993 -0.025193167911877645" rpy="2.67805384222918e-06 1.3057397262072086 -1.5707938810851714"/>
    <parent link="l_hand_middle_2"/>
    <child link="l_hand_middle_skin_2"/>
    <dynamics damping="0.1"/>
  </joint>
  <link name="l_hand_middle_skin_3"/>
  <joint name="l_hand_middle_skin_3_fixed_joint" type="fixed">
    <origin xyz="0.003300181170510192 -0.004082174556855278 -0.027766773373389564" rpy="3.14159206598453 1.504776403539619 1.5707957068952807"/>
    <parent link="l_hand_middle_2"/>
    <child link="l_hand_middle_skin_3"/>
    <dynamics damping="0.1"/>
  </joint>
  <link name="l_hand_middle_skin_4"/>
  <joint name="l_hand_middle_skin_4_fixed_joint" type="fixed">
    <origin xyz="0.005929732632988013 -0.001192832553830403 -0.027999915681298115" rpy="3.141592336413363 1.299444945688194 2.7771552495198835"/>
    <parent link="l_hand_middle_2"/>
    <child link="l_hand_middle_skin_4"/>
    <dynamics damping="0.1"/>
  </joint>
  <link name="l_hand_middle_skin_5"/>
  <joint name="l_hand_middle_skin_5_fixed_joint" type="fixed">
    <origin xyz="0 -0.0034765832806818997 -0.02983570347842418" rpy="3.1415923106025314 1.086225709334958 1.5707962889575584"/>
    <parent link="l_hand_middle_2"/>
    <child link="l_hand_middle_skin_5"/>
    <dynamics damping="0.1"/>
  </joint>
  <link name="l_hand_middle_skin_6"/>
  <joint name="l_hand_middle_skin_6_fixed_joint" type="fixed">
    <origin xyz="0.0033001032954547184 -0.0018248945553451246 -0.031771757727755756" rpy="-3.1415924841511433 0.7785357399039169 2.532385692627037"/>
    <parent link="l_hand_middle_2"/>
    <child link="l_hand_middle_skin_6"/>
    <dynamics damping="0.1"/>
  </joint>
  <link name="l_hand_middle_skin_7"/>
  <joint name="l_hand_middle_skin_7_fixed_joint" type="fixed">
    <origin xyz="0 -0.0002725978091493997 -0.033271502713935364" rpy="3.141592263055179 0.6184187545317414 1.5713165725114155"/>
    <parent link="l_hand_middle_2"/>
    <child link="l_hand_middle_skin_7"/>
    <dynamics damping="0.1"/>
  </joint>
  <link name="l_hand_middle_skin_8"/>
  <joint name="l_hand_middle_skin_8_fixed_joint" type="fixed">
    <origin xyz="-0.0032999946700499154 -0.0018244087955724964 -0.0317716170907979" rpy="-3.141592114011197 0.7785357191047289 0.60920707683613"/>
    <parent link="l_hand_middle_2"/>
    <child link="l_hand_middle_skin_8"/>
    <dynamics damping="0.1"/>
  </joint>
  <link name="l_hand_middle_skin_9"/>
  <joint name="l_hand_middle_skin_9_fixed_joint" type="fixed">
    <origin xyz="-0.005929566529031996 -0.0011920519924579764 -0.028000347463470243" rpy="-3.141592260042174 1.299444239340149 0.3644371706703166"/>
    <parent link="l_hand_middle_2"/>
    <child link="l_hand_middle_skin_9"/>
    <dynamics damping="0.1"/>
  </joint>
  <link name="l_hand_middle_skin_10"/>
  <joint name="l_hand_middle_skin_10_fixed_joint" type="fixed">
    <origin xyz="-0.0032999688028366864 -0.004081937549531761 -0.027767599906222185" rpy="3.14159206598453 1.504776403539619 1.5707957068952807"/>
    <parent link="l_hand_middle_2"/>
    <child link="l_hand_middle_skin_10"/>
    <dynamics damping="0.1"/>
  </joint>
  <link name="l_hand_middle_skin_11"/>
  <joint name="l_hand_middle_skin_11_fixed_joint" type="fixed">
    <origin xyz="-0.0032999302761450126 -0.0031315344195035066 -0.023280711530192733" rpy="1.4298532751994242e-06 1.2201100060845365 -1.5707950386454854"/>
    <parent link="l_hand_middle_2"/>
    <child link="l_hand_middle_skin_11"/>
    <dynamics damping="0.1"/>
  </joint>
  <link name="l_hand_thumb_1">
    <inertial>
      <origin xyz="0.020687992873158395 0.003255220723100055 -0.008896940067464165" rpy="0.3407559733652857 0.16157290397540883 2.2910827715586013"/>
      <mass value="0.0346205"/>
      <inertia ixx="0.01" ixy="-2.06718e-06" ixz="-4.99381e-07" iyy="0.01" iyz="-2.5225e-06" izz="0.01"/>
    </inertial>
    <visual>
      <origin xyz="0.1322803583541615 -0.15858996430408137 0.2541102113185044" rpy="0.3407559733652857 0.16157290397540883 2.2910827715586013"/>
      <geometry>
        <mesh filename="package://ergoCub/meshes/simmechanics/sim_ecub_l_hand_thumb_1_prt.stl" scale="0.001 0.001 0.001"/>
      </geometry>
      <material name="red">
        <color rgba="1 0 0 1"/>
      </material>
    </visual>
    <collision>
      <origin xyz="0.1322803583541615 -0.15858996430408137 0.2541102113185044" rpy="0.3407559733652857 0.16157290397540883 2.2910827715586013"/>
      <geometry>
        <mesh filename="package://ergoCub/meshes/simmechanics/sim_ecub_l_hand_thumb_1_prt.stl" scale="0.001 0.001 0.001"/>
      </geometry>
    </collision>
  </link>
  <joint name="l_thumb_add" type="revolute">
    <origin xyz="0.023374937816838005 -0.003000071417791822 -0.034523522800941175" rpy="0.08853717963934662 -0.2091803673917457 -0.40396882311318977"/>
    <axis xyz="-9.579078130705909e-08 6.90101362721407e-08 -1.0000003967894144"/>
    <parent link="l_hand_palm"/>
    <child link="l_hand_thumb_1"/>
    <limit effort="50000" lower="0.0" upper="1.0471975511965976" velocity="120.0"/>
    <dynamics damping="2.0" friction="0.0"/>
  </joint>
  <link name="l_hand_thumb_2">
    <inertial>
      <origin xyz="0.009791991208288692 0.004339703993751859 0.0002629570752250565" rpy="1.836586646685542 0.9949596465626955 -2.452146247302006"/>
      <mass value="0.00246082"/>
      <inertia ixx="0.01" ixy="-1.15428e-08" ixz="-1.55154e-08" iyy="0.01" iyz="-2.43359e-08" izz="0.01"/>
    </inertial>
    <visual>
      <origin xyz="-0.09215234480058533 0.2395110056057534 0.21989844725116847" rpy="1.836586646685542 0.9949596465626955 -2.452146247302006"/>
      <geometry>
        <mesh filename="package://ergoCub/meshes/simmechanics/sim_ecub_l_hand_thumb_2_prt.stl" scale="0.001 0.001 0.001"/>
      </geometry>
      <material name="blue">
        <color rgba="0 0 1 1"/>
      </material>
    </visual>
    <collision>
      <origin xyz="-0.09215234480058533 0.2395110056057534 0.21989844725116847" rpy="1.836586646685542 0.9949596465626955 -2.452146247302006"/>
      <geometry>
        <mesh filename="package://ergoCub/meshes/simmechanics/sim_ecub_l_hand_thumb_2_prt.stl" scale="0.001 0.001 0.001"/>
      </geometry>
    </collision>
  </link>
  <joint name="l_thumb_prox" type="revolute">
    <origin xyz="0.03454190438141733 0.0031447987794122334 -0.026071809138455138" rpy="1.3486854426081958 0.6514100961972398 1.2371890149379312e-06"/>
    <axis xyz="6.65068723482154e-07 -2.7824760159833595e-07 -1.0000002266902146"/>
    <parent link="l_hand_thumb_1"/>
    <child link="l_hand_thumb_2"/>
    <limit effort="50000" lower="0.0" upper="2.792526803190927" velocity="120.0"/>
    <dynamics damping="2.0" friction="0.0"/>
  </joint>
  <link name="l_hand_thumb_3">
    <inertial>
      <origin xyz="0.006464657686845246 0.001884491656128695 1.5530289565829358e-05" rpy="1.836586646685542 0.9949596465626955 -2.452146247302006"/>
      <mass value="0.00811336"/>
      <inertia ixx="0.01" ixy="-6.71818e-07" ixz="-3.37336e-07" iyy="0.01" iyz="-6.24005e-07" izz="0.01"/>
    </inertial>
    <visual>
      <origin xyz="-0.11215186322773268 0.24101052770139572 0.21989803874896846" rpy="1.836586646685542 0.9949596465626955 -2.452146247302006"/>
      <geometry>
        <mesh filename="package://ergoCub/meshes/simmechanics/sim_ecub_l_hand_thumb_3_prt.stl" scale="0.001 0.001 0.001"/>
      </geometry>
      <material name="yellow">
        <color rgba="1 1 0 1"/>
      </material>
    </visual>
    <collision>
      <origin xyz="-0.11215186322773268 0.24101052770139572 0.21989803874896846" rpy="1.836586646685542 0.9949596465626955 -2.452146247302006"/>
      <geometry>
        <mesh filename="package://ergoCub/meshes/simmechanics/sim_ecub_l_hand_thumb_3_prt.stl" scale="0.001 0.001 0.001"/>
      </geometry>
    </collision>
  </link>
  <joint name="l_thumb_dist" type="revolute">
    <origin xyz="0.01999951842714734 -0.0014995220956423305 4.0850220001109605e-07" rpy="0 0 0"/>
    <axis xyz="6.65068723482154e-07 -2.7824760159833595e-07 -1.0000002266902146"/>
    <parent link="l_hand_thumb_2"/>
    <child link="l_hand_thumb_3"/>
    <limit effort="50000" lower="0.0" upper="2.792526803190927" velocity="120.0"/>
    <dynamics damping="2.0" friction="0.0"/>
  </joint>
  <link name="l_hand_thumb_skin_0"/>
  <joint name="l_hand_thumb_skin_0_fixed_joint" type="fixed">
    <origin xyz="0.020306533379063282 -0.0024343101858567417 -1.02177518712665e-06" rpy="1.5707963529634608 -7.763677284389983e-07 -0.348308299608484"/>
    <parent link="l_hand_thumb_3"/>
    <child link="l_hand_thumb_skin_0"/>
    <dynamics damping="0.1"/>
  </joint>
  <link name="l_hand_thumb_skin_1"/>
  <joint name="l_hand_thumb_skin_1_fixed_joint" type="fixed">
    <origin xyz="0.02218144130259432 -0.003131520277003974 0.0033000550744306523" rpy="1.5707968798775 -6.358788514904552e-07 -0.3506868205285684"/>
    <parent link="l_hand_thumb_3"/>
    <child link="l_hand_thumb_skin_1"/>
    <dynamics damping="0.1"/>
  </joint>
  <link name="l_hand_thumb_skin_2"/>
  <joint name="l_hand_thumb_skin_2_fixed_joint" type="fixed">
    <origin xyz="0.024092765288315235 -0.0037586699455105788 0" rpy="1.5707966249662435 -6.175239036510354e-07 -0.26505736279648673"/>
    <parent link="l_hand_thumb_3"/>
    <child link="l_hand_thumb_skin_2"/>
    <dynamics damping="0.1"/>
  </joint>
  <link name="l_hand_thumb_skin_3"/>
  <joint name="l_hand_thumb_skin_3_fixed_joint" type="fixed">
    <origin xyz="0.02666722402677603 -0.004082581893144865 0.0032996629815040257" rpy="1.5707965227938288 -9.019462447191873e-07 0.06601977594073062"/>
    <parent link="l_hand_thumb_3"/>
    <child link="l_hand_thumb_skin_3"/>
    <dynamics damping="0.1"/>
  </joint>
  <link name="l_hand_thumb_skin_4"/>
  <joint name="l_hand_thumb_skin_4_fixed_joint" type="fixed">
    <origin xyz="0.02690021104599309 -0.0011927877443135282 0.0059287648863864395" rpy="0.37702429099789225 0.2531248955594458 0.09883894762271977"/>
    <parent link="l_hand_thumb_3"/>
    <child link="l_hand_thumb_skin_4"/>
    <dynamics damping="0.1"/>
  </joint>
  <link name="l_hand_thumb_skin_5"/>
  <joint name="l_hand_thumb_skin_5_fixed_joint" type="fixed">
    <origin xyz="0.028735478235047893 -0.00347687151090062 -3.1587642940200666e-07" rpy="1.5707957126757448 -5.513795408585156e-07 0.4845703956395784"/>
    <parent link="l_hand_thumb_3"/>
    <child link="l_hand_thumb_skin_5"/>
    <dynamics damping="0.1"/>
  </joint>
  <link name="l_hand_thumb_skin_6"/>
  <joint name="l_hand_thumb_skin_6_fixed_joint" type="fixed">
    <origin xyz="0.030672478717119214 -0.0018246658485785439 0.0032996972420061" rpy="0.7821843436480906 0.6234816082641762 0.5256769446782557"/>
    <parent link="l_hand_thumb_3"/>
    <child link="l_hand_thumb_skin_6"/>
    <dynamics damping="0.1"/>
  </joint>
  <link name="l_hand_thumb_skin_7"/>
  <joint name="l_hand_thumb_skin_7_fixed_joint" type="fixed">
    <origin xyz="0.03217216332171892 -0.0002731248779968831 0" rpy="1.5704939137056884 0.00042393168110662526 0.9523772903877968"/>
    <parent link="l_hand_thumb_3"/>
    <child link="l_hand_thumb_skin_7"/>
    <dynamics damping="0.1"/>
  </joint>
  <link name="l_hand_thumb_skin_8"/>
  <joint name="l_hand_thumb_skin_8_fixed_joint" type="fixed">
    <origin xyz="0.030671762678273276 -0.0018250383011248483 -0.0033001906622364408" rpy="2.3594071882842584 -0.6234824919681496 0.5256776375213161"/>
    <parent link="l_hand_thumb_3"/>
    <child link="l_hand_thumb_skin_8"/>
    <dynamics damping="0.1"/>
  </joint>
  <link name="l_hand_thumb_skin_9"/>
  <joint name="l_hand_thumb_skin_9_fixed_joint" type="fixed">
    <origin xyz="0.026900642650424703 -0.0011927733091181558 -0.005929763387118231" rpy="2.764568857310248 -0.253126241141505 0.09883859873338112"/>
    <parent link="l_hand_thumb_3"/>
    <child link="l_hand_thumb_skin_9"/>
    <dynamics damping="0.1"/>
  </joint>
  <link name="l_hand_thumb_skin_10"/>
  <joint name="l_hand_thumb_skin_10_fixed_joint" type="fixed">
    <origin xyz="0.026667719682656202 -0.00408229584322653 -0.003299911601186978" rpy="1.5707965227938288 -9.019462447191873e-07 0.06601977594073062"/>
    <parent link="l_hand_thumb_3"/>
    <child link="l_hand_thumb_skin_10"/>
    <dynamics damping="0.1"/>
  </joint>
  <link name="l_hand_thumb_skin_11"/>
  <joint name="l_hand_thumb_skin_11_fixed_joint" type="fixed">
    <origin xyz="0.022181516794865866 -0.00313158061241825 -0.00330035824525321" rpy="1.5707968798775 -6.358788514904552e-07 -0.3506868205285684"/>
    <parent link="l_hand_thumb_3"/>
    <child link="l_hand_thumb_skin_11"/>
    <dynamics damping="0.1"/>
  </joint>
  <link name="l_hand_pinkie_1">
    <inertial>
      <origin xyz="0.00012075789444785517 0.003704897193364143 -0.011966220252340787" rpy="0.03293841693450851 0.2510502277214382 1.8063707999903837"/>
      <mass value="0.00283627"/>
      <inertia ixx="0.01" ixy="-2.91649e-09" ixz="3.31954e-08" iyy="0.01" iyz="-2.28393e-09" izz="0.01"/>
    </inertial>
    <visual>
      <origin xyz="0.028549811623539312 -0.19942048890787537 0.3226271900836232" rpy="0.03293841693450851 0.2510502277214382 1.8063707999903837"/>
      <geometry>
        <mesh filename="package://ergoCub/meshes/simmechanics/sim_ecub_l_hand_pinkie_1_prt.stl" scale="0.001 0.001 0.001"/>
      </geometry>
      <material name="pink">
        <color rgba="1 0 1 1"/>
      </material>
    </visual>
    <collision>
      <origin xyz="0.028549811623539312 -0.19942048890787537 0.3226271900836232" rpy="0.03293841693450851 0.2510502277214382 1.8063707999903837"/>
      <geometry>
        <mesh filename="package://ergoCub/meshes/simmechanics/sim_ecub_l_hand_pinkie_1_prt.stl" scale="0.001 0.001 0.001"/>
      </geometry>
    </collision>
  </link>
  <joint name="l_pinkie_prox" type="revolute">
    <origin xyz="-0.03598224264195511 -0.002388684875026248 -0.09208535104881393" rpy="0 0.08726650590388031 0.026179823381597748"/>
    <axis xyz="-1.0000005135466863 -1.979209419246744e-07 -4.060128685548503e-07"/>
    <parent link="l_hand_palm"/>
    <child link="l_hand_pinkie_1"/>
    <limit effort="50000" lower="0.0" upper="2.792526803190927" velocity="120.0"/>
    <dynamics damping="2.0" friction="0.0"/>
  </joint>
  <link name="l_hand_pinkie_2">
    <inertial>
      <origin xyz="1.712559800553376e-05 0.0017852152950040279 -0.005612274232820069" rpy="0.03294759939428343 0.25108473598814396 1.806373605758749"/>
      <mass value="0.00857923"/>
      <inertia ixx="0.01" ixy="3.5901e-08" ixz="7.27944e-07" iyy="0.01" iyz="-1.07962e-07" izz="0.01"/>
    </inertial>
    <visual>
      <origin xyz="0.0285502106092587 -0.1979083365759431 0.3476344574461948" rpy="0.03294759939428343 0.25108473598814396 1.806373605758749"/>
      <geometry>
        <mesh filename="package://ergoCub/meshes/simmechanics/sim_ecub_l_hand_pinkie_2_prt.stl" scale="0.001 0.001 0.001"/>
      </geometry>
      <material name="cyan">
        <color rgba="0 1 1 1"/>
      </material>
    </visual>
    <collision>
      <origin xyz="0.0285502106092587 -0.1979083365759431 0.3476344574461948" rpy="0.03294759939428343 0.25108473598814396 1.806373605758749"/>
      <geometry>
        <mesh filename="package://ergoCub/meshes/simmechanics/sim_ecub_l_hand_pinkie_2_prt.stl" scale="0.001 0.001 0.001"/>
      </geometry>
    </collision>
  </link>
  <joint name="l_pinkie_dist" type="revolute">
    <origin xyz="0 -0.0014997508602252463 -0.025000232410908152" rpy="3.5631170772755025e-05 -5.94559868174076e-07 -5.245059638522189e-07"/>
    <axis xyz="-1.0000005135465095 -7.224204564889453e-07 1.88573045758339e-07"/>
    <parent link="l_hand_pinkie_1"/>
    <child link="l_hand_pinkie_2"/>
    <limit effort="50000" lower="0.0" upper="2.792526803190927" velocity="120.0"/>
    <dynamics damping="2.0" friction="0.0"/>
  </joint>
  <link name="base_link"/>
  <joint name="base_link_fixed_joint" type="fixed">
  <origin xyz="0 0 0" rpy="0 -0 0"/>
  <axis xyz="0 0 0"/>
  <parent link="root_link"/>
  <child link="base_link"/>
</joint>
  <gazebo reference="r_arm_ft_sensor">
<preserveFixedJoint>true</preserveFixedJoint>
<!-- For compatibility with SDFormat < 4.4 -->
<disableFixedJointLumping>true</disableFixedJointLumping>
</gazebo>
  <gazebo reference="l_arm_ft_sensor">
<preserveFixedJoint>true</preserveFixedJoint>
<!-- For compatibility with SDFormat < 4.4 -->
<disableFixedJointLumping>true</disableFixedJointLumping>
</gazebo>
  <gazebo>
<plugin name="controlboard_torso" filename="libgazebo_yarp_controlboard.so">
  <yarpConfigurationFile>model://ergoCub/conf/gazebo_ergocub_torso.ini</yarpConfigurationFile>
</plugin>
</gazebo>
  <gazebo reference="torso_pitch">
    <implicitSpringDamper>1</implicitSpringDamper>
</gazebo>
  <gazebo reference="torso_roll">
    <implicitSpringDamper>1</implicitSpringDamper>
</gazebo>
  <gazebo reference="torso_yaw">
    <implicitSpringDamper>1</implicitSpringDamper>
</gazebo>
  <gazebo reference="r_shoulder_pitch">
    <implicitSpringDamper>1</implicitSpringDamper>
</gazebo>
  <gazebo reference="r_shoulder_roll">
    <implicitSpringDamper>1</implicitSpringDamper>
</gazebo>
  <gazebo reference="r_shoulder_yaw">
    <implicitSpringDamper>1</implicitSpringDamper>
</gazebo>
  <gazebo reference="l_shoulder_pitch">
    <implicitSpringDamper>1</implicitSpringDamper>
</gazebo>
  <gazebo reference="l_shoulder_roll">
    <implicitSpringDamper>1</implicitSpringDamper>
</gazebo>
  <gazebo reference="l_shoulder_yaw">
    <implicitSpringDamper>1</implicitSpringDamper>
</gazebo>
  <gazebo reference="l_leg_ft_sensor">
<preserveFixedJoint>true</preserveFixedJoint>
<!-- For compatibility with SDFormat < 4.4 -->
<disableFixedJointLumping>true</disableFixedJointLumping>
</gazebo>
  <gazebo reference="l_foot_front_ft_sensor">
<preserveFixedJoint>true</preserveFixedJoint>
<!-- For compatibility with SDFormat < 4.4 -->
<disableFixedJointLumping>true</disableFixedJointLumping>
</gazebo>
  <gazebo reference="l_foot_rear_ft_sensor">
<preserveFixedJoint>true</preserveFixedJoint>
<!-- For compatibility with SDFormat < 4.4 -->
<disableFixedJointLumping>true</disableFixedJointLumping>
</gazebo>
  <gazebo reference="l_foot_front">
  <collision> <surface> <bounce>
    <restitution_coefficient>0</restitution_coefficient>
    <threshold>100000</threshold>
  </bounce> </surface> </collision>
  <maxContacts>4</maxContacts>
  <kp>18000000</kp>
  <kd>100</kd>
  <maxVel>100</maxVel>
  <minDepth>0.0001</minDepth>
  <mu1>1</mu1>
  <mu2>1</mu2>
  <fdir1>0 0 0</fdir1>
</gazebo>
  <gazebo reference="l_foot_rear">
  <collision> <surface> <bounce>
    <restitution_coefficient>0</restitution_coefficient>
    <threshold>100000</threshold>
  </bounce> </surface> </collision>
  <maxContacts>4</maxContacts>
  <kp>18000000</kp>
  <kd>100</kd>
  <maxVel>100</maxVel>
  <minDepth>0.0001</minDepth>
  <mu1>1</mu1>
  <mu2>1</mu2>
  <fdir1>0 0 0</fdir1>
</gazebo>
  <gazebo>
<plugin name="controlboard_left_leg" filename="libgazebo_yarp_controlboard.so">
<yarpConfigurationFile>model://ergoCub/conf/gazebo_ergocub_left_leg.ini</yarpConfigurationFile>
</plugin>
</gazebo>
  <gazebo reference="l_hip_pitch">
    <implicitSpringDamper>1</implicitSpringDamper>
</gazebo>
  <gazebo reference="l_hip_roll">
    <implicitSpringDamper>1</implicitSpringDamper>
</gazebo>
  <gazebo reference="l_hip_yaw">
    <implicitSpringDamper>1</implicitSpringDamper>
</gazebo>
  <gazebo reference="l_knee">
    <implicitSpringDamper>1</implicitSpringDamper>
</gazebo>
  <gazebo reference="l_ankle_pitch">
    <implicitSpringDamper>1</implicitSpringDamper>
</gazebo>
  <gazebo reference="l_ankle_roll">
    <implicitSpringDamper>1</implicitSpringDamper>
</gazebo>
  <gazebo reference="r_leg_ft_sensor">
<preserveFixedJoint>true</preserveFixedJoint>
<!-- For compatibility with SDFormat < 4.4 -->
<disableFixedJointLumping>true</disableFixedJointLumping>
</gazebo>
  <gazebo reference="r_foot_front_ft_sensor">
<preserveFixedJoint>true</preserveFixedJoint>
<!-- For compatibility with SDFormat < 4.4 -->
<disableFixedJointLumping>true</disableFixedJointLumping>
</gazebo>
  <gazebo reference="r_foot_rear_ft_sensor">
<preserveFixedJoint>true</preserveFixedJoint>
<!-- For compatibility with SDFormat < 4.4 -->
<disableFixedJointLumping>true</disableFixedJointLumping>
</gazebo>
  <gazebo reference="r_foot_front">
  <collision> <surface> <bounce>
    <restitution_coefficient>0</restitution_coefficient>
    <threshold>100000</threshold>
  </bounce> </surface> </collision>
  <maxContacts>4</maxContacts>
  <kp>18000000</kp>
  <kd>100</kd>
  <maxVel>100</maxVel>
  <minDepth>0.0001</minDepth>
  <mu1>1</mu1>
  <mu2>1</mu2>
  <fdir1>0 0 0</fdir1>
</gazebo>
  <gazebo reference="r_foot_rear">
  <collision> <surface> <bounce>
    <restitution_coefficient>0</restitution_coefficient>
    <threshold>100000</threshold>
  </bounce> </surface> </collision>
  <maxContacts>4</maxContacts>
  <kp>18000000</kp>
  <kd>100</kd>
  <maxVel>100</maxVel>
  <minDepth>0.0001</minDepth>
  <mu1>1</mu1>
  <mu2>1</mu2>
  <fdir1>0 0 0</fdir1>
</gazebo>
  <gazebo>
<plugin name="controlboard_right_leg" filename="libgazebo_yarp_controlboard.so">
<yarpConfigurationFile>model://ergoCub/conf/gazebo_ergocub_right_leg.ini</yarpConfigurationFile>
</plugin>
</gazebo>
  <gazebo reference="r_hip_pitch">
    <implicitSpringDamper>1</implicitSpringDamper>
</gazebo>
  <gazebo reference="r_hip_roll">
    <implicitSpringDamper>1</implicitSpringDamper>
</gazebo>
  <gazebo reference="r_hip_yaw">
    <implicitSpringDamper>1</implicitSpringDamper>
</gazebo>
  <gazebo reference="r_knee">
    <implicitSpringDamper>1</implicitSpringDamper>
</gazebo>
  <gazebo reference="r_ankle_pitch">
    <implicitSpringDamper>1</implicitSpringDamper>
</gazebo>
  <gazebo reference="r_ankle_roll">
    <implicitSpringDamper>1</implicitSpringDamper>
</gazebo>
  <gazebo>
<plugin name="controlboard_head_without_eyes" filename="libgazebo_yarp_controlboard.so">
<yarpConfigurationFile>model://ergoCub/conf/gazebo_ergocub_head.ini</yarpConfigurationFile>
</plugin>
</gazebo>
  <gazebo reference="neck_pitch">
    <implicitSpringDamper>1</implicitSpringDamper>
</gazebo>
  <gazebo reference="neck_roll">
    <implicitSpringDamper>1</implicitSpringDamper>
</gazebo>
  <gazebo reference="neck_yaw">
    <implicitSpringDamper>1</implicitSpringDamper>
</gazebo>
  <gazebo>
<plugin name="controlboard_left_arm_no_hand" filename="libgazebo_yarp_controlboard.so">
<yarpConfigurationFile>model://ergoCub/conf/gazebo_ergocub_left_arm.ini</yarpConfigurationFile>
<initialConfiguration>-0.52 0.52 0 0.785 0 0 0.0</initialConfiguration>
</plugin>
</gazebo>
  <gazebo>
<plugin name="controlboard_left_hand" filename="libgazebo_yarp_controlboard.so">
<yarpConfigurationFile>model://ergoCub/conf/gazebo_ergocub_left_hand.ini</yarpConfigurationFile>
</plugin>
</gazebo>
  <gazebo reference="l_shoulder_pitch">
  <implicitSpringDamper>1</implicitSpringDamper>
</gazebo>
  <gazebo reference="l_shoulder_roll">
  <implicitSpringDamper>1</implicitSpringDamper>
</gazebo>
  <gazebo reference="l_shoulder_yaw">
  <implicitSpringDamper>1</implicitSpringDamper>
</gazebo>
  <gazebo reference="l_elbow">
  <implicitSpringDamper>1</implicitSpringDamper>
</gazebo>
  <gazebo reference="l_wrist_roll">
  <implicitSpringDamper>1</implicitSpringDamper>
</gazebo>
  <gazebo reference="l_wrist_pitch">
  <implicitSpringDamper>1</implicitSpringDamper>
</gazebo>
  <gazebo reference="l_wrist_yaw">
  <implicitSpringDamper>1</implicitSpringDamper>
</gazebo>
  <gazebo>
<plugin name="controlboard_right_arm_no_hand" filename="libgazebo_yarp_controlboard.so">
<yarpConfigurationFile>model://ergoCub/conf/gazebo_ergocub_right_arm.ini</yarpConfigurationFile>
<initialConfiguration>-0.52 0.52 0 0.785 0 0 0.0</initialConfiguration>
</plugin>
</gazebo>
  <gazebo>
<plugin name="controlboard_right_hand" filename="libgazebo_yarp_controlboard.so">
<yarpConfigurationFile>model://ergoCub/conf/gazebo_ergocub_right_hand.ini</yarpConfigurationFile>
</plugin>
</gazebo>
  <gazebo reference="r_shoulder_pitch">
  <implicitSpringDamper>1</implicitSpringDamper>
</gazebo>
  <gazebo reference="r_shoulder_roll">
  <implicitSpringDamper>1</implicitSpringDamper>
</gazebo>
  <gazebo reference="r_shoulder_yaw">
  <implicitSpringDamper>1</implicitSpringDamper>
</gazebo>
  <gazebo reference="r_elbow">
  <implicitSpringDamper>1</implicitSpringDamper>
</gazebo>
  <gazebo reference="r_wrist_roll">
  <implicitSpringDamper>1</implicitSpringDamper>
</gazebo>
  <gazebo reference="r_wrist_pitch">
  <implicitSpringDamper>1</implicitSpringDamper>
</gazebo>
  <gazebo reference="r_wrist_yaw">
  <implicitSpringDamper>1</implicitSpringDamper>
</gazebo>
  <gazebo>
  <plugin name="robotinterface" filename="libgazebo_yarp_robotinterface.so">
    <yarpRobotInterfaceConfigurationFile>model://ergoCub/conf/ergocub.xml</yarpRobotInterfaceConfigurationFile>
  </plugin>
</gazebo>
  <gazebo reference="l_arm_ft_sensor">
    <sensor name="l_arm_ft_sensor" type="force_torque">
      <always_on>1</always_on>
      <update_rate>100</update_rate>
      <force_torque>
        <frame>sensor</frame>
        <measure_direction>child_to_parent</measure_direction>
      </force_torque>
      <pose>0.0 0.0 0.0 -3.1415923328972943 2.923917580150936e-08 -1.5707962214346844</pose>
      <plugin name="left_arm_ft_plugin" filename="libgazebo_yarp_forcetorque.so">
  <yarpConfigurationFile>model://ergoCub/conf/FT/gazebo_ergocub_left_arm_ft.ini</yarpConfigurationFile>
</plugin>
    </sensor>
  </gazebo>
  <sensor name="l_arm_ft_sensor" type="force_torque">
    <parent joint="l_arm_ft_sensor"/>
    <force_torque>
      <frame>sensor</frame>
      <measure_direction>child_to_parent</measure_direction>
    </force_torque>
    <origin rpy="-3.1415923328972943 2.923917580150936e-08 -1.5707962214346844" xyz="0.0 0.0 0.0"/>
  </sensor>
  <gazebo reference="r_arm_ft_sensor">
    <sensor name="r_arm_ft_sensor" type="force_torque">
      <always_on>1</always_on>
      <update_rate>100</update_rate>
      <force_torque>
        <frame>sensor</frame>
        <measure_direction>child_to_parent</measure_direction>
      </force_torque>
      <pose>0.0 0.0 0.0 -3.1415924092528633 -2.2277470853981803e-08 1.5707964070692688</pose>
      <plugin name="right_arm_ft_plugin" filename="libgazebo_yarp_forcetorque.so">
  <yarpConfigurationFile>model://ergoCub/conf/FT/gazebo_ergocub_right_arm_ft.ini</yarpConfigurationFile>
</plugin>
    </sensor>
  </gazebo>
  <sensor name="r_arm_ft_sensor" type="force_torque">
    <parent joint="r_arm_ft_sensor"/>
    <force_torque>
      <frame>sensor</frame>
      <measure_direction>child_to_parent</measure_direction>
    </force_torque>
    <origin rpy="-3.1415924092528633 -2.2277470853981803e-08 1.5707964070692688" xyz="0.0 0.0 0.0"/>
  </sensor>
  <gazebo reference="l_leg_ft_sensor">
    <sensor name="l_leg_ft_sensor" type="force_torque">
      <always_on>1</always_on>
      <update_rate>100</update_rate>
      <force_torque>
        <frame>sensor</frame>
        <measure_direction>child_to_parent</measure_direction>
      </force_torque>
      <pose>0.0 0.0 0.0 3.141592653589793 -0.0 2.6179934742070086</pose>
      <plugin name="left_leg_ft_plugin" filename="libgazebo_yarp_forcetorque.so">
  <yarpConfigurationFile>model://ergoCub/conf/FT/gazebo_ergocub_left_leg_ft.ini</yarpConfigurationFile>
</plugin>
    </sensor>
  </gazebo>
  <sensor name="l_leg_ft_sensor" type="force_torque">
    <parent joint="l_leg_ft_sensor"/>
    <force_torque>
      <frame>sensor</frame>
      <measure_direction>child_to_parent</measure_direction>
    </force_torque>
    <origin rpy="3.141592653589793 -0.0 2.6179934742070086" xyz="0.0 0.0 0.0"/>
  </sensor>
  <gazebo reference="l_foot_front_ft_sensor">
    <sensor name="l_foot_front_ft_sensor" type="force_torque">
      <always_on>1</always_on>
      <update_rate>100</update_rate>
      <force_torque>
        <frame>sensor</frame>
        <measure_direction>parent_to_child</measure_direction>
      </force_torque>
      <pose>0.0 0.0 0.022299999999999986 0.0 -0.0 -2.0943952105869315</pose>
      <plugin name="left_foot_front_ft_plugin" filename="libgazebo_yarp_forcetorque.so">
  <yarpConfigurationFile>model://ergoCub/conf/FT/gazebo_ergocub_left_foot_front_ft.ini</yarpConfigurationFile>
</plugin>
    </sensor>
  </gazebo>
  <sensor name="l_foot_front_ft_sensor" type="force_torque">
    <parent joint="l_foot_front_ft_sensor"/>
    <force_torque>
      <frame>sensor</frame>
      <measure_direction>parent_to_child</measure_direction>
    </force_torque>
    <origin rpy="0.0 -0.0 -2.0943952105869315" xyz="0.0 0.0 0.022299999999999986"/>
  </sensor>
  <gazebo reference="l_foot_rear_ft_sensor">
    <sensor name="l_foot_rear_ft_sensor" type="force_torque">
      <always_on>1</always_on>
      <update_rate>100</update_rate>
      <force_torque>
        <frame>sensor</frame>
        <measure_direction>parent_to_child</measure_direction>
      </force_torque>
      <pose>0.0 0.0 0.022299999999999986 0.0 -0.0 -2.0943952105869315</pose>
      <plugin name="left_foot_rear_ft_plugin" filename="libgazebo_yarp_forcetorque.so">
  <yarpConfigurationFile>model://ergoCub/conf/FT/gazebo_ergocub_left_foot_rear_ft.ini</yarpConfigurationFile>
</plugin>
    </sensor>
  </gazebo>
<sensor name="l_foot_rear_ft_sensor" type="force_torque">
    <parent joint="l_foot_rear_ft_sensor"/>
    <force_torque>
      <frame>sensor</frame>
      <measure_direction>parent_to_child</measure_direction>
    </force_torque>
    <origin rpy="0.0 -0.0 -2.0943952105869315" xyz="0.0 0.0 0.022299999999999986"/>
  </sensor>
  <gazebo reference="r_leg_ft_sensor">
    <sensor name="r_leg_ft_sensor" type="force_torque">
      <always_on>1</always_on>
      <update_rate>100</update_rate>
      <force_torque>
        <frame>sensor</frame>
        <measure_direction>child_to_parent</measure_direction>
      </force_torque>
      <pose>0.0 0.0 0.0 3.141592653589793 0.0 -2.6179934742070086</pose>
      <plugin name="right_leg_ft_plugin" filename="libgazebo_yarp_forcetorque.so">
  <yarpConfigurationFile>model://ergoCub/conf/FT/gazebo_ergocub_right_leg_ft.ini</yarpConfigurationFile>
    </plugin>
  </sensor>
</gazebo>
<sensor name="r_leg_ft_sensor" type="force_torque">
    <parent joint="r_leg_ft_sensor"/>
    <force_torque>
      <frame>sensor</frame>
      <measure_direction>child_to_parent</measure_direction>
    </force_torque>
    <origin rpy="3.141592653589793 0.0 -2.6179934742070086" xyz="0.0 0.0 0.0"/>
  </sensor>
  <gazebo reference="r_foot_front_ft_sensor">
    <sensor name="r_foot_front_ft_sensor" type="force_torque">
      <always_on>1</always_on>
      <update_rate>100</update_rate>
      <force_torque>
        <frame>sensor</frame>
        <measure_direction>parent_to_child</measure_direction>
      </force_torque>
      <pose>0.0 0.0 0.022299999999999986 0.0 -0.0 -2.0943952105869315</pose>
      <plugin name="right_foot_front_ft_plugin" filename="libgazebo_yarp_forcetorque.so">
  <yarpConfigurationFile>model://ergoCub/conf/FT/gazebo_ergocub_right_foot_front_ft.ini</yarpConfigurationFile>
</plugin>
    </sensor>
  </gazebo>
  <sensor name="r_foot_front_ft_sensor" type="force_torque">
    <parent joint="r_foot_front_ft_sensor"/>
    <force_torque>
      <frame>sensor</frame>
      <measure_direction>parent_to_child</measure_direction>
    </force_torque>
    <origin rpy="0.0 -0.0 -2.0943952105869315" xyz="0.0 0.0 0.022299999999999986"/>
  </sensor>
  <gazebo reference="r_foot_rear_ft_sensor">
    <sensor name="r_foot_rear_ft_sensor" type="force_torque">
      <always_on>1</always_on>
      <update_rate>100</update_rate>
      <force_torque>
        <frame>sensor</frame>
        <measure_direction>parent_to_child</measure_direction>
      </force_torque>
      <pose>0.0 0.0 0.022299999999999986 0.0 -0.0 -2.0943952105869315</pose>
      <plugin name="right_foot_rear_ft_plugin" filename="libgazebo_yarp_forcetorque.so">
  <yarpConfigurationFile>model://ergoCub/conf/FT/gazebo_ergocub_right_foot_rear_ft.ini</yarpConfigurationFile>
</plugin>
    </sensor>
  </gazebo>
  <sensor name="r_foot_rear_ft_sensor" type="force_torque">
    <parent joint="r_foot_rear_ft_sensor"/>
    <force_torque>
      <frame>sensor</frame>
      <measure_direction>parent_to_child</measure_direction>
    </force_torque>
    <origin rpy="0.0 -0.0 -2.0943952105869315" xyz="0.0 0.0 0.022299999999999986"/>
  </sensor>
  <gazebo reference="head">
    <sensor name="head_imu_0" type="imu">
      <always_on>1</always_on>
      <update_rate>100</update_rate>
      <pose>-0.004299998 -0.0055 0.03823499999999996 3.141592653589793 -0.0 1.5707963267948966</pose>
      <plugin name="ergocub_yarp_gazebo_plugin_IMU" filename="libgazebo_yarp_imu.so">
    <yarpConfigurationFile>model://ergoCub/conf/gazebo_ergocub_inertial.ini</yarpConfigurationFile>
</plugin>
    </sensor>
  </gazebo>




  <sensor name="head_imu_0" type="accelerometer">
    <parent link="head"/>
    <origin rpy="3.141592653589793 -0.0 1.5707963267948966" xyz="-0.004299998 -0.0055 0.03823499999999996"/>
  </sensor>

  <gazebo reference="realsense">
    <sensor name="realsense_head_depth" type="depth">
      <always_on>1</always_on>
      <update_rate>30</update_rate>
      <pose>0.00751550026595621 0.010000000000000005 -4.911144457775407e-08 -1.5707962931078618 8.881784197001252e-16 -1.5707963267948954</pose>
      <camera name="intel_realsense_depth_camera">
        <pose>0 0 0 -1.57079 -1.57079 3.14159</pose>
        <horizontal_fov>1.57079</horizontal_fov>
        <distortion>
          <k1>0</k1>
          <k2>0</k2>
          <k3>0</k3>
          <p1>0</p1>
          <p2>0</p2>
          <center>319.5 239.5</center>
        </distortion>
        <image>
          <width>640</width>
          <height>480</height>
          <format>R8G8B8</format>
        </image>
        <clip>
          <near>0.175</near>
          <far>3000</far>
        </clip>
      </camera>
      <visualize>false</visualize>
      <plugin name="ergocub_yarp_gazebo_plugin_depthCamera" filename="libgazebo_yarp_depthCamera.so">
        <yarpConfigurationFile>model://ergoCub/conf/sensors/gazebo_ergocub_rgbd_camera.ini</yarpConfigurationFile>
      </plugin>
    </sensor>
  </gazebo>

  <sensor name="realsense_head_depth" type="depth">
    <parent link="realsense"/>
    <origin rpy="-1.5707962931078618 8.881784197001252e-16 -1.5707963267948954" xyz="0.00751550026595621 0.010000000000000005 -4.911144457775407e-08"/>
  </sensor>

  <gazebo reference="realsense">
    <sensor name="realsense_head_rgb" type="camera">
      <always_on>1</always_on>
      <update_rate>30</update_rate>
      <pose>0.00751550026595621 -0.0115 -4.911144457775407e-08 -1.5707962931078618 8.881784197001252e-16 -1.5707963267948954</pose>
      <camera name="intel_realsense_rgb_camera">
        <pose>0 0 0 -1.57079 -1.57079 3.14159</pose>
        <horizontal_fov>1.2217</horizontal_fov>
        <distortion>
          <k1>0</k1>
          <k2>0</k2>
          <k3>0</k3>
          <p1>0</p1>
          <p2>0</p2>
          <center>319.5 239.5</center>
        </distortion>
        <image>
          <width>640</width>
          <height>480</height>
          <format>R8G8B8</format>
        </image>
        <clip>
          <near>0.02</near>
          <far>3000</far>
        </clip>
      </camera>
      <visualize>false</visualize>
      <plugin name="ergocub_yarp_gazebo_plugin_camera" filename="libgazebo_yarp_camera.so">
        <yarpConfigurationFile>model://ergoCub/conf/gazebo_ergocub_rgb_camera.ini</yarpConfigurationFile>
      </plugin>
    </sensor>
  </gazebo>
  <sensor name="realsense_head_rgb" type="camera">
    <parent link="realsense"/>
    <origin rpy="-1.5707962931078618 8.881784197001252e-16 -1.5707963267948954" xyz="0.00751550026595621 -0.0115 -4.911144457775407e-08"/>
  </sensor>
  <gazebo reference="realsense">
    <sensor name="realsense_imu_0" type="imu">
      <always_on>1</always_on>
      <update_rate>100</update_rate>
      <pose>0.00751550026595621 0.010000000000000005 -4.911144457775407e-08 -1.5707962931078618 8.881784197001252e-16 -1.5707963267948954</pose>
      <plugin name="ergocub_yarp_gazebo_plugin_IMU" filename="libgazebo_yarp_imu.so">
        <yarpConfigurationFile>model://ergoCub/conf/gazebo_ergocub_realsense_inertial.ini</yarpConfigurationFile>
      </plugin>
    </sensor>
  </gazebo>
  <sensor name="realsense_imu_0" type="accelerometer">
    <parent link="realsense"/>
    <origin rpy="-1.5707962931078618 8.881784197001252e-16 -1.5707963267948954" xyz="0.00751550026595621 0.010000000000000005 -4.911144457775407e-08"/>
  </sensor>


  <gazebo reference="head">
    <sensor name="lasersensor_head" type="ray">
      <always_on>1</always_on>
      <update_rate>100</update_rate>
      <pose>4.99999999999997e-05 0.0 0.13480199999999992 0.0 -0.0 1.5707963267948966</pose>
      <always_on>1</always_on>
      <visualize>false</visualize>
      <update_rate>40</update_rate>
      <ray name="head_laser_sensor">
        <scan>
          <horizontal>
            <samples>1600</samples>
            <resolution>1</resolution>
            <min_angle>0</min_angle>
            <max_angle>6.28</max_angle>
          </horizontal>
        </scan>
        <range>
          <min>0.2</min>
          <max>25</max>
          <resolution>0.01</resolution>
        </range>
        <noise>
          <type>gaussian</type>
          <mean>0</mean>
          <stddev>0.005</stddev>
        </noise>
      </ray>
      <plugin name="ergocub_yarp_gazebo_plugin_laser" filename="libgazebo_yarp_lasersensor.so">
        <yarpConfigurationFile>model://ergoCub/conf/sensors/gazebo_ergocub_lidar.ini</yarpConfigurationFile>
      </plugin>
    </sensor>
  </gazebo>
  <sensor name="lasersensor_head" type="ray">
    <parent link="head"/>
    <origin rpy="0.0 -0.0 1.5707963267948966" xyz="4.99999999999997e-05 0.0 0.13480199999999992"/>
  </sensor>
  <gazebo>
    <pose>0.0 0.0 0.9 0.0 0.0 0.0</pose>
  </gazebo>
</robot>
